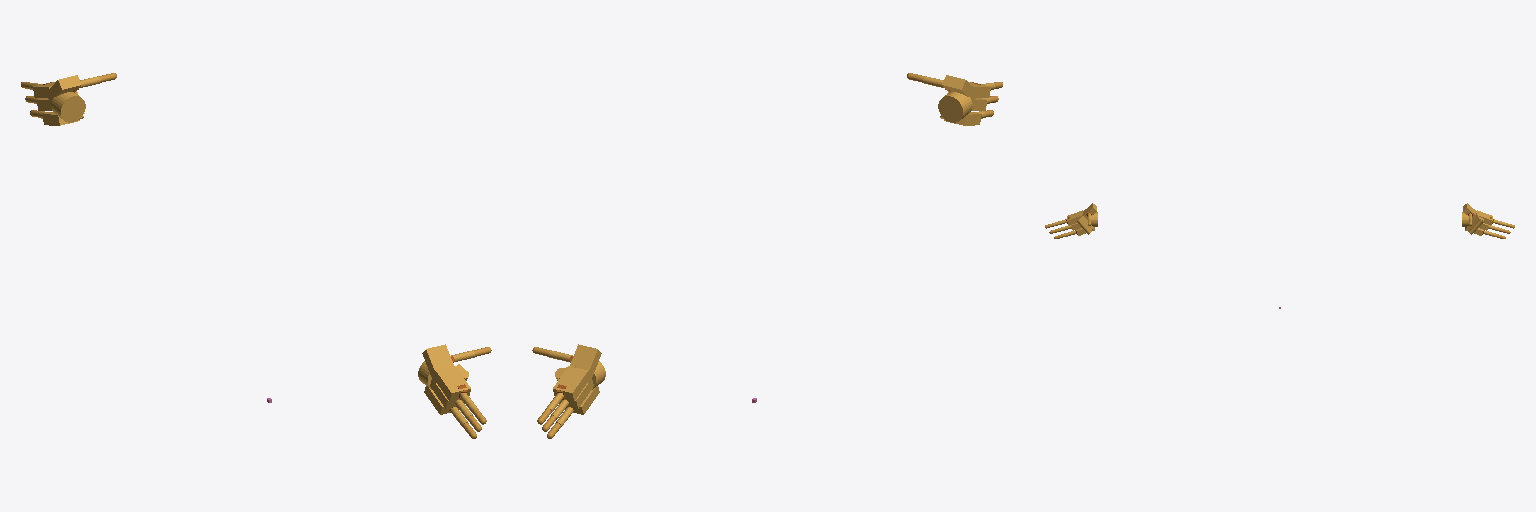
--- Render facts (derived) ---
3 views of the same robot in one strip: view 1: azimuth 30°, elevation 25°; view 2: azimuth 150°, elevation 25°; view 3: azimuth 270°, elevation 25° (orthographic).
Model atlas with 98 links and 97 joints (52 revolute, 1 continuous, 44 fixed), rooted at pelvis, posed every joint at zero.
Links seen in each view (by area): view 1: right_palm, left_palm; view 2: left_palm, right_palm; view 3: right_palm, left_palm.
Boxes of the visible links, box(x1,y1,x2,y2) form: right_palm: box(418, 344, 470, 414); left_palm: box(33, 75, 85, 125); left_palm: box(553, 344, 605, 414); right_palm: box(938, 75, 990, 125); right_palm: box(1067, 203, 1097, 235); left_palm: box(1462, 203, 1492, 235).
Size in the robot's own frame: 0.196 by 2.44 by 0.5667 metres.
Meshes: 30 distinct files referenced, 0 mesh visuals loaded (none loaded); not drawn: 30 (reference not matched to a file when rendering).

robot.urdf — atlas:
<?xml version="1.0" ?>
<!-- =================================================================================== -->
<!-- |    This document was autogenerated by xacro from /tmp/buildd/drcsim-2.1.0/ros/atlas_description/robots/atlas_sandia_hands.urdf.xacro | -->
<!-- |    EDITING THIS FILE BY HAND IS NOT RECOMMENDED                                 | -->
<!-- =================================================================================== -->
<robot name="atlas" xmlns:xacro="http://www.ros.org/wiki/xacro">
  <link name="l_clav">
    <inertial>
      <mass value="2.369"/>
      <origin rpy="0 -0 0" xyz="0.014 0.058 0.029"/>
      <inertia ixx="0.004" ixy="0.001" ixz="0" iyy="0.006" iyz="0" izz="0.007"/>
    </inertial>
    <visual>
      <origin rpy="0 -0 0" xyz="0 0 0"/>
      <geometry>
        <mesh filename="package://atlas/meshes/l_clav.dae" scale="1 1 1"/>
      </geometry>
    </visual>
    <collision group="default">
      <origin rpy="0 1.5707963267949 0" xyz="0 0.0744 0.03657"/>
      <geometry>
        <cylinder length="0.1525" radius="0.045"/>
      </geometry>
    </collision>
    <collision group="other">
      <origin rpy="-0.5236 0 0" xyz="0 0.012 0.012"/>
      <geometry>
        <cylinder length="0.027" radius="0.04"/>
      </geometry>
    </collision>
  </link>
  <link name="l_farm">
    <inertial>
      <mass value="0.981"/>
      <origin rpy="0 -0 0" xyz="0 0.041 0"/>
      <inertia ixx="0.003" ixy="0" ixz="0" iyy="0.001" iyz="0" izz="0.003"/>
    </inertial>
    <visual>
      <origin rpy="0 -0 0" xyz="0 0 0"/>
      <geometry>
        <mesh filename="package://atlas/meshes/l_farm.dae" scale="1 1 1"/>
      </geometry>
    </visual>
    <collision group="default">
      <origin rpy="1.5707963267949 0 0" xyz="0 0.0174215 0"/>
      <geometry>
        <cylinder length="0.035181" radius="0.0458825"/>
      </geometry>
    </collision>
    <collision group="other">
      <origin rpy="0 1.5707963267949 0" xyz="0.000226 0.06028 0.0"/>
      <geometry>
        <cylinder length="0.050472" radius="0.0279"/>
      </geometry>
    </collision>
  </link>
  <link name="l_foot">
    <inertial>
      <mass value="1.634"/>
      <origin rpy="0 -0 0" xyz="0.027 0 -0.067"/>
      <inertia ixx="0.002" ixy="0" ixz="0" iyy="0.007" iyz="0" izz="0.008"/>
    </inertial>
    <visual>
      <origin rpy="0 -0 0" xyz="0 0 0"/>
      <geometry>
        <mesh filename="package://atlas/meshes/l_foot.dae" scale="1 1 1"/>
      </geometry>
    </visual>
    <!-- bottom -->
    <collision group="default">
      <origin rpy="0 0 0" xyz="0.048 0 -0.076119"/>
      <geometry>
        <box size="0.26 0.124887 0.01"/>
      </geometry>
    </collision>
    <!-- ankle FIXME: adding this collision body destabilizes robot, shouldn't
        <collision group="other">
          <origin xyz="0.0 0 -0.0528735" rpy="0 0 0"/>
          <geometry>
            <cylinder radius="0.0373" length="0.037827"/>
          </geometry>
        </collision>
        -->
  </link>
  <link name="l_hand">
    <inertial>
      <mass value="2.263"/>
      <origin rpy="0 -0 0" xyz="0 0.093 0"/>
      <inertia ixx="0.01" ixy="0" ixz="0" iyy="0.002" iyz="0" izz="0.01"/>
    </inertial>
    <visual>
      <origin rpy="0 -0 0" xyz="0 0 0"/>
      <geometry>
        <mesh filename="package://atlas/meshes/l_hand.dae" scale="1 1 1"/>
      </geometry>
    </visual>
    <collision group="default">
      <origin rpy="1.5707963267949 0 0" xyz="0 0.0526955 0.0"/>
      <geometry>
        <cylinder length="0.055117" radius="0.035939"/>
      </geometry>
    </collision>
    <collision group="other">
      <origin rpy="0 1.5707963267949 0" xyz="0.034375 0.002643 0"/>
      <geometry>
        <cylinder length="0.019" radius="0.035939"/>
      </geometry>
    </collision>
    <collision group="other">
      <origin rpy="0 1.5707963267949 0" xyz="-0.0365945 0.002643 0"/>
      <geometry>
        <cylinder length="0.019" radius="0.035939"/>
      </geometry>
    </collision>
  </link>
  <link name="l_larm">
    <inertial>
      <mass value="2.148"/>
      <origin rpy="0 -0 0" xyz="-0.003 0.099 -0.014"/>
      <inertia ixx="0.005" ixy="0" ixz="0" iyy="0.003" iyz="0" izz="0.006"/>
    </inertial>
    <visual>
      <origin rpy="0 -0 0" xyz="0 0 0"/>
      <geometry>
        <mesh filename="package://atlas/meshes/l_larm.dae" scale="1 1 1"/>
      </geometry>
    </visual>
    <collision group="default">
      <origin rpy="0 1.5707963267949 0" xyz="0.056065 0 0"/>
      <geometry>
        <cylinder length="0.0161" radius="0.045"/>
      </geometry>
    </collision>
    <collision group="other">
      <origin rpy="0 1.5707963267949 0" xyz="-0.0556155 0 0"/>
      <!-- double check -->
      <geometry>
        <cylinder length="0.0161" radius="0.045"/>
      </geometry>
    </collision>
    <collision group="other">
      <origin rpy="1.5707963267949 0 0" xyz="0 0.0940525 0.0"/>
      <geometry>
        <cylinder length="0.188105" radius="0.045"/>
      </geometry>
    </collision>
  </link>
  <link name="l_lglut">
    <inertial>
      <mass value="0.69"/>
      <origin rpy="0 -0 0" xyz="0.0133341 0.0170484 -0.0312052"/>
      <inertia ixx="0.000691326" ixy="-2.24344e-05" ixz="2.50508e-06" iyy="0.00126856" iyz="0.000137862" izz="0.00106487"/>
    </inertial>
    <visual>
      <origin rpy="0 -0 0" xyz="0 0 0"/>
      <geometry>
        <mesh filename="package://atlas/meshes/l_lglut.dae" scale="1 1 1"/>
      </geometry>
    </visual>
    <collision group="default">
      <origin rpy="1.5707963267949 0 0" xyz="0.049968 0.022488 -0.0501165"/>
      <geometry>
        <cylinder length="0.060306" radius="0.02009687"/>
      </geometry>
    </collision>
    <collision group="other">
      <origin rpy="0 1.5707963267949 0" xyz="0 0 0"/>
      <geometry>
        <cylinder length="0.12" radius="0.02"/>
      </geometry>
    </collision>
  </link>
  <link name="l_lleg">
    <inertial>
      <mass value="4.367"/>
      <origin rpy="0 -0 0" xyz="0.001 0 -0.187"/>
      <inertia ixx="0.077" ixy="0" ixz="-0.003" iyy="0.076" iyz="0" izz="0.01"/>
    </inertial>
    <visual>
      <origin rpy="0 -0 0" xyz="0 0 0"/>
      <geometry>
        <mesh filename="package://atlas/meshes/l_lleg.dae" scale="1 1 1"/>
      </geometry>
    </visual>
    <collision group="default">
      <origin rpy="0 0 0" xyz="-0.00345 0.00295 -0.1913"/>
      <geometry>
        <box size="0.1465 0.1205 0.476"/>
      </geometry>
    </collision>
  </link>
  <link name="l_scap">
    <inertial>
      <mass value="2.707"/>
      <origin rpy="0 -0 0" xyz="-0.002 0.108 0"/>
      <inertia ixx="0.01" ixy="0" ixz="0" iyy="0.005" iyz="0" izz="0.013"/>
    </inertial>
    <visual>
      <origin rpy="0 -0 0" xyz="0 0 0"/>
      <geometry>
        <mesh filename="package://atlas/meshes/l_scap.dae" scale="1 1 1"/>
      </geometry>
    </visual>
    <collision group="default">
      <origin rpy="1.5707963267949 0 0" xyz="0 0.118521 0"/>
      <geometry>
        <cylinder length="0.137492" radius="0.0418405"/>
      </geometry>
    </collision>
    <collision group="other">
      <origin rpy="0 1.5707963267949 0" xyz="-0.0884125 0 0"/>
      <geometry>
        <cylinder length="0.013937" radius="0.048709"/>
      </geometry>
    </collision>
    <collision group="other">
      <origin rpy="0 1.5707963267949 0" xyz="0.0847565 0 0"/>
      <geometry>
        <cylinder length="0.013737" radius="0.048709"/>
      </geometry>
    </collision>
  </link>
  <link name="l_talus">
    <inertial>
      <mass value="0.1"/>
      <origin rpy="0 -0 0" xyz="0 0 0"/>
      <inertia ixx="1.01674e-05" ixy="0" ixz="0" iyy="8.42775e-06" iyz="0" izz="1.30101e-05"/>
    </inertial>
    <visual>
      <origin rpy="0 -0 0" xyz="0 0 0"/>
      <geometry>
        <mesh filename="package://atlas/meshes/l_talus.dae" scale="1 1 1"/>
      </geometry>
    </visual>
    <collision group="default">
      <origin rpy="0 1.5707963267949 0" xyz="0 0 0"/>
      <geometry>
        <cylinder length="0.029542" radius="0.010181"/>
      </geometry>
    </collision>
    <collision group="other">
      <origin rpy="1.5707963267949 0 0" xyz="0 0 0"/>
      <geometry>
        <cylinder length="0.010059" radius="0.010348"/>
      </geometry>
    </collision>
  </link>
  <link name="l_uarm">
    <inertial>
      <mass value="1.881"/>
      <origin rpy="0 -0 0" xyz="0.007 0.114 0.008"/>
      <inertia ixx="0.002" ixy="0" ixz="0" iyy="0.003" iyz="0" izz="0.003"/>
    </inertial>
    <visual>
      <origin rpy="0 -0 0" xyz="0 0 0"/>
      <geometry>
        <mesh filename="package://atlas/meshes/l_uarm.dae" scale="1 1 1"/>
      </geometry>
    </visual>
    <collision group="default">
      <origin rpy="1.5707963267949 0 0" xyz="0 0.0583385 0"/>
      <geometry>
        <cylinder length="0.116677" radius="0.0449"/>
      </geometry>
    </collision>
    <collision group="other">
      <origin rpy="0 1.5707963267949 0" xyz="0 0.1205235 0.00912975"/>
      <geometry>
        <cylinder length="0.088934" radius="0.04504847"/>
      </geometry>
    </collision>
  </link>
  <link name="l_uglut">
    <inertial>
      <mass value="0.5166"/>
      <origin rpy="0 -0 0" xyz="0.00529262 -0.00344732 0.00313046"/>
      <inertia ixx="0.00074276" ixy="-3.79607e-08" ixz="-2.79549e-05" iyy="0.000688179" iyz="-3.2735e-08" izz="0.00041242"/>
    </inertial>
    <visual>
      <origin rpy="0 -0 0" xyz="0 0 0"/>
      <geometry>
        <mesh filename="package://atlas/meshes/l_uglut.dae" scale="1 1 1"/>
      </geometry>
    </visual>
    <collision group="default">
      <origin rpy="0 1.5707963267949 0" xyz="0 0 0"/>
      <geometry>
        <cylinder length="0.078396" radius="0.019096"/>
      </geometry>
    </collision>
    <collision group="other">
      <origin rpy="0 0 0" xyz="0 0 0"/>
      <geometry>
        <cylinder length="0.080842" radius="0.019841"/>
      </geometry>
    </collision>
  </link>
  <link name="l_uleg">
    <inertial>
      <mass value="7.34"/>
      <origin rpy="0 -0 0" xyz="0 0 -0.21"/>
      <inertia ixx="0.09" ixy="0" ixz="0" iyy="0.09" iyz="0" izz="0.02"/>
    </inertial>
    <visual>
      <origin rpy="0 -0 0" xyz="0 0 0"/>
      <geometry>
        <mesh filename="package://atlas/meshes/l_uleg.dae" scale="1 1 1"/>
      </geometry>
    </visual>
    <collision group="default">
      <origin rpy="0 0 0" xyz="-0.0179 0.02085 -0.21"/>
      <geometry>
        <box size="0.2 0.1865 0.26"/>
      </geometry>
    </collision>
  </link>
  <link name="ltorso">
    <inertial>
      <mass value="1.92"/>
      <origin rpy="0 -0 0" xyz="-0.0112984 -3.15366e-06 0.0746835"/>
      <inertia ixx="0.0039092" ixy="-5.04491e-08" ixz="-0.000342157" iyy="0.00341694" iyz="4.87119e-07" izz="0.00174492"/>
    </inertial>
    <visual>
      <origin rpy="0 -0 0" xyz="0 0 0"/>
      <geometry>
        <mesh filename="package://atlas/meshes/ltorso.dae" scale="1 1 1"/>
      </geometry>
    </visual>
    <!-- this part is completely internal
        <collision group="default">
          <origin rpy="0 0 0" xyz="0 0 0.039762"/>
          <geometry>
            <cylinder radius="0.025918" length="0.076922"/>
          </geometry>
        </collision>
        <collision group="other">
          <origin rpy="1.5707963267949 0 0" xyz="0 0.0250065 0.09025"/>
          <geometry>
            <cylinder radius="0.014828" length="0.020367"/>
          </geometry>
        </collision>
        <collision group="other">
          <origin rpy="1.5707963267949 0 0" xyz="0 -0.0248895 0.09025"/>
          <geometry>
            <cylinder radius="0.014828" length="0.020169"/>
          </geometry>
        </collision>
        -->
  </link>
  <link name="mtorso">
    <inertial>
      <mass value="0.55"/>
      <origin rpy="0 -0 0" xyz="-0.00816266 -0.0131245 0.0305974"/>
      <inertia ixx="0.000454181" ixy="-6.10764e-05" ixz="3.94009e-05" iyy="0.000483282" iyz="5.27463e-05" izz="0.000444215"/>
    </inertial>
    <visual>
      <origin rpy="0 -0 0" xyz="0 0 0"/>
      <geometry>
        <mesh filename="package://atlas/meshes/mtorso.dae" scale="1 1 1"/>
      </geometry>
    </visual>
    <collision group="default">
      <origin rpy="1.5707963267949 0 0" xyz="0 0 0"/>
      <geometry>
        <cylinder length="0.03" radius="0.017"/>
      </geometry>
    </collision>
    <collision group="other">
      <origin rpy="0 1.5707963267949 0" xyz="0.0285 0 0.05"/>
      <geometry>
        <cylinder length="0.02" radius="0.015"/>
      </geometry>
    </collision>
    <collision group="other">
      <origin rpy="0 1.5707963267949 0" xyz="-0.0285 0 0.05"/>
      <geometry>
        <cylinder length="0.02" radius="0.015"/>
      </geometry>
    </collision>
  </link>
  <link name="pelvis">
    <inertial>
      <mass value="14.2529"/>
      <origin rpy="0 -0 0" xyz="0.0111 0 0.0271"/>
      <inertia ixx="0.1244" ixy="0.0008" ixz="-0.0007" iyy="0.0958" iyz="-0.0005" izz="0.1167"/>
    </inertial>
    <visual>
      <origin rpy="0 -0 0" xyz="0 0 0"/>
      <geometry>
        <mesh filename="package://atlas/meshes/pelvis.dae" scale="1 1 1"/>
      </geometry>
    </visual>
    <collision group="default">
      <origin rpy="0 0 0" xyz="0 0 0"/>
      <geometry>
        <sphere radius="0.129"/>
      </geometry>
    </collision>
    <collision group="other">
      <origin rpy="0 0 0" xyz="0 0.034 0.06"/>
      <geometry>
        <cylinder length="0.07" radius="0.130"/>
      </geometry>
    </collision>
    <collision group="other">
      <origin rpy="0 0 0" xyz="0 -0.034 0.06"/>
      <geometry>
        <cylinder length="0.07" radius="0.130"/>
      </geometry>
    </collision>
  </link>
  <link name="r_clav">
    <inertial>
      <mass value="2.369"/>
      <origin rpy="0 -0 0" xyz="0.014 -0.058 0.029"/>
      <inertia ixx="0.004" ixy="-0.001" ixz="0" iyy="0.006" iyz="0" izz="0.007"/>
    </inertial>
    <visual>
      <origin rpy="0 -0 0" xyz="0 0 0"/>
      <geometry>
        <mesh filename="package://atlas/meshes/r_clav.dae" scale="1 1 1"/>
      </geometry>
    </visual>
    <collision group="default">
      <origin rpy="0 1.5707963267949 0" xyz="0 -0.0744 0.03657"/>
      <geometry>
        <cylinder length="0.1525" radius="0.045"/>
      </geometry>
    </collision>
    <collision group="other">
      <origin rpy="0.5236 0 0" xyz="0 -0.012 0.012"/>
      <geometry>
        <cylinder length="0.027" radius="0.04"/>
      </geometry>
    </collision>
  </link>
  <link name="r_farm">
    <inertial>
      <mass value="0.981"/>
      <origin rpy="0 -0 0" xyz="0 -0.041 0"/>
      <inertia ixx="0.003" ixy="0" ixz="0" iyy="0.001" iyz="0" izz="0.003"/>
    </inertial>
    <visual>
      <origin rpy="0 -0 0" xyz="0 0 0"/>
      <geometry>
        <mesh filename="package://atlas/meshes/r_farm.dae" scale="1 1 1"/>
      </geometry>
    </visual>
    <collision group="default">
      <origin rpy="1.5707963267949 0 0" xyz="0 -0.0174215 0"/>
      <geometry>
        <cylinder length="0.035181" radius="0.0458825"/>
      </geometry>
    </collision>
    <collision group="other">
      <origin rpy="0 1.5707963267949 0" xyz="0.000226 -0.06028 0.0"/>
      <geometry>
        <cylinder length="0.050472" radius="0.0279"/>
      </geometry>
    </collision>
  </link>
  <link name="r_foot">
    <inertial>
      <mass value="1.634"/>
      <origin rpy="0 -0 0" xyz="0.027 0 -0.067"/>
      <inertia ixx="0.002" ixy="0" ixz="0" iyy="0.007" iyz="0" izz="0.008"/>
    </inertial>
    <visual>
      <origin rpy="0 -0 0" xyz="0 0 0"/>
      <geometry>
        <mesh filename="package://atlas/meshes/r_foot.dae" scale="1 1 1"/>
      </geometry>
    </visual>
    <!-- bottom -->
    <collision group="default">
      <origin rpy="0 0 0" xyz="0.048 0 -0.076119"/>
      <geometry>
        <box size="0.26 0.124887 0.01"/>
      </geometry>
    </collision>
    <!-- ankle FIXME: adding this collision body destabilizes robot, shouldn't
        <collision group="other">
          <origin xyz="0.0 0 -0.0528735" rpy="0 0 0"/>
          <geometry>
            <cylinder radius="0.0373" length="0.037827"/>
          </geometry>
        </collision>
        -->
  </link>
  <link name="r_hand">
    <inertial>
      <mass value="2.263"/>
      <origin rpy="0 -0 0" xyz="0 -0.093 0"/>
      <inertia ixx="0.01" ixy="0" ixz="0" iyy="0.002" iyz="0" izz="0.01"/>
    </inertial>
    <visual>
      <origin rpy="0 -0 0" xyz="0 0 0"/>
      <geometry>
        <mesh filename="package://atlas/meshes/r_hand.dae" scale="1 1 1"/>
      </geometry>
    </visual>
    <collision group="default">
      <origin rpy="1.5707963267949 0 0" xyz="0 -0.0526955 0.0"/>
      <geometry>
        <cylinder length="0.055117" radius="0.035939"/>
      </geometry>
    </collision>
    <collision group="other">
      <origin rpy="0 1.5707963267949 0" xyz="0.034375 -0.002643 0"/>
      <geometry>
        <cylinder length="0.019" radius="0.035939"/>
      </geometry>
    </collision>
    <collision group="other">
      <origin rpy="0 1.5707963267949 0" xyz="-0.0365945 -0.002643 0"/>
      <geometry>
        <cylinder length="0.019" radius="0.035939"/>
      </geometry>
    </collision>
  </link>
  <link name="r_larm">
    <inertial>
      <mass value="2.148"/>
      <origin rpy="0 -0 0" xyz="-0.003 -0.099 -0.014"/>
      <inertia ixx="0.005" ixy="0" ixz="0" iyy="0.003" iyz="0" izz="0.006"/>
    </inertial>
    <visual>
      <origin rpy="0 -0 0" xyz="0 0 0"/>
      <geometry>
        <mesh filename="package://atlas/meshes/r_larm.dae" scale="1 1 1"/>
      </geometry>
    </visual>
    <collision group="default">
      <origin rpy="0 1.5707963267949 0" xyz="0.056065 0 0"/>
      <geometry>
        <cylinder length="0.0161" radius="0.045"/>
      </geometry>
    </collision>
    <collision group="other">
      <origin rpy="0 1.5707963267949 0" xyz="-0.0556155 0 0"/>
      <!-- double check -->
      <geometry>
        <cylinder length="0.0161" radius="0.045"/>
      </geometry>
    </collision>
    <collision group="other">
      <origin rpy="1.5707963267949 0 0" xyz="0 -0.0940525 0.0"/>
      <geometry>
        <cylinder length="0.188105" radius="0.045"/>
      </geometry>
    </collision>
  </link>
  <link name="r_lglut">
    <inertial>
      <mass value="0.69"/>
      <origin rpy="0 -0 0" xyz="0.0133341 -0.0170484 -0.0312052"/>
      <inertia ixx="0.000691326" ixy="2.24344e-05" ixz="2.50508e-06" iyy="0.00126856" iyz="-0.000137862" izz="0.00106487"/>
    </inertial>
    <visual>
      <origin rpy="0 -0 0" xyz="0 0 0"/>
      <geometry>
        <mesh filename="package://atlas/meshes/r_lglut.dae" scale="1 1 1"/>
      </geometry>
    </visual>
    <collision group="default">
      <origin rpy="1.5707963267949 0 0" xyz="0.049968 -0.022488 -0.0501165"/>
      <geometry>
        <cylinder length="0.060306" radius="0.02009687"/>
      </geometry>
    </collision>
    <collision group="other">
      <origin rpy="0 1.5707963267949 0" xyz="0 0 0"/>
      <geometry>
        <cylinder length="0.12" radius="0.02"/>
      </geometry>
    </collision>
  </link>
  <link name="r_lleg">
    <inertial>
      <mass value="4.367"/>
      <origin rpy="0 -0 0" xyz="0.001 0 -0.187"/>
      <inertia ixx="0.077" ixy="-0" ixz="-0.003" iyy="0.076" iyz="-0" izz="0.01"/>
    </inertial>
    <visual>
      <origin rpy="0 -0 0" xyz="0 0 0"/>
      <geometry>
        <mesh filename="package://atlas/meshes/r_lleg.dae" scale="1 1 1"/>
      </geometry>
    </visual>
    <collision group="default">
      <origin rpy="0 0 0" xyz="-0.00345 -0.00295 -0.1913"/>
      <geometry>
        <box size="0.1465 0.1205 0.476"/>
      </geometry>
    </collision>
  </link>
  <link name="r_scap">
    <inertial>
      <mass value="2.707"/>
      <origin rpy="0 -0 0" xyz="-0.002 -0.108 0"/>
      <inertia ixx="0.01" ixy="0" ixz="0" iyy="0.005" iyz="0" izz="0.013"/>
    </inertial>
    <visual>
      <origin rpy="0 -0 0" xyz="0 0 0"/>
      <geometry>
        <mesh filename="package://atlas/meshes/r_scap.dae" scale="1 1 1"/>
      </geometry>
    </visual>
    <collision group="default">
      <origin rpy="1.5707963267949 0 0" xyz="0 -0.118521 0"/>
      <geometry>
        <cylinder length="0.137492" radius="0.0418405"/>
      </geometry>
    </collision>
    <collision group="other">
      <origin rpy="0 1.5707963267949 0" xyz="-0.0884125 0 0"/>
      <geometry>
        <cylinder length="0.013937" radius="0.048709"/>
      </geometry>
    </collision>
    <collision group="other">
      <origin rpy="0 1.5707963267949 0" xyz="0.0847565 0 0"/>
      <geometry>
        <cylinder length="0.013737" radius="0.048709"/>
      </geometry>
    </collision>
  </link>
  <link name="r_talus">
    <inertial>
      <mass value="0.1"/>
      <origin rpy="0 -0 0" xyz="0 0 0"/>
      <inertia ixx="1.01674e-05" ixy="0" ixz="0" iyy="8.42775e-06" iyz="0" izz="1.30101e-05"/>
    </inertial>
    <visual>
      <origin rpy="0 -0 0" xyz="0 0 0"/>
      <geometry>
        <mesh filename="package://atlas/meshes/r_talus.dae" scale="1 1 1"/>
      </geometry>
    </visual>
    <collision group="default">
      <origin rpy="0 1.5707963267949 0" xyz="0 0 0"/>
      <geometry>
        <cylinder length="0.029542" radius="0.010181"/>
      </geometry>
    </collision>
    <collision group="other">
      <origin rpy="1.5707963267949 0 0" xyz="0 0 0"/>
      <geometry>
        <cylinder length="0.010059" radius="0.010348"/>
      </geometry>
    </collision>
  </link>
  <link name="r_uarm">
    <inertial>
      <mass value="1.881"/>
      <origin rpy="0 -0 0" xyz="0.007 -0.114 0.008"/>
      <inertia ixx="0.002" ixy="0" ixz="0" iyy="0.003" iyz="0" izz="0.003"/>
    </inertial>
    <visual>
      <origin rpy="0 -0 0" xyz="0 0 0"/>
      <geometry>
        <mesh filename="package://atlas/meshes/r_uarm.dae" scale="1 1 1"/>
      </geometry>
    </visual>
    <collision group="default">
      <origin rpy="1.5707963267949 0 0" xyz="0 -0.0583385 0"/>
      <geometry>
        <cylinder length="0.116677" radius="0.0449"/>
      </geometry>
    </collision>
    <collision group="other">
      <origin rpy="0 1.5707963267949 0" xyz="0 -0.1205235 0.00912975"/>
      <geometry>
        <cylinder length="0.088934" radius="0.04504847"/>
      </geometry>
    </collision>
  </link>
  <link name="r_uglut">
    <inertial>
      <mass value="0.5166"/>
      <origin rpy="0 -0 0" xyz="0.00529262 0.00344732 0.00313046"/>
      <inertia ixx="0.00074276" ixy="3.79607e-08" ixz="-2.79549e-05" iyy="0.000688179" iyz="3.2735e-08" izz="0.00041242"/>
    </inertial>
    <visual>
      <origin rpy="0 -0 0" xyz="0 0 0"/>
      <geometry>
        <mesh filename="package://atlas/meshes/r_uglut.dae" scale="1 1 1"/>
      </geometry>
    </visual>
    <collision group="default">
      <origin rpy="0 1.5707963267949 0" xyz="0 0 0"/>
      <geometry>
        <cylinder length="0.078396" radius="0.019096"/>
      </geometry>
    </collision>
    <collision group="other">
      <origin rpy="0 0 0" xyz="0 0 0"/>
      <geometry>
        <cylinder length="0.080842" radius="0.019841"/>
      </geometry>
    </collision>
  </link>
  <link name="r_uleg">
    <inertial>
      <mass value="7.34"/>
      <origin rpy="0 -0 0" xyz="0 0 -0.21"/>
      <inertia ixx="0.09" ixy="0" ixz="0" iyy="0.09" iyz="0" izz="0.02"/>
    </inertial>
    <visual>
      <origin rpy="0 -0 0" xyz="0 0 0"/>
      <geometry>
        <mesh filename="package://atlas/meshes/r_uleg.dae" scale="1 1 1"/>
      </geometry>
    </visual>
    <collision group="default">
      <origin rpy="0 0 0" xyz="-0.0179 -0.02085 -0.21"/>
      <geometry>
        <box size="0.2 0.1865 0.26"/>
      </geometry>
    </collision>
  </link>
  <link name="utorso">
    <inertial>
      <mass value="18.484"/>
      <origin rpy="0 -0 0" xyz="0.02 -0.001 0.211"/>
      <inertia ixx="0.395" ixy="0" ixz="0.083" iyy="1.089" iyz="-0.003" izz="0.327"/>
    </inertial>
    <visual>
      <origin rpy="0 -0 0" xyz="0 0 0"/>
      <geometry>
        <mesh filename="package://atlas/meshes/utorso.dae" scale="1 1 1"/>
      </geometry>
    </visual>
    <collision group="default">
      <origin rpy="0 -0 0" xyz="0.0446 0 0.1869"/>
      <geometry>
        <box size="0.3188 0.24 0.3662"/>
      </geometry>
    </collision>
    <collision group="other">
      <origin rpy="-0.5236 0 0" xyz="0.024 0.16 0.18"/>
      <geometry>
        <cylinder length="0.22375" radius="0.0363"/>
      </geometry>
    </collision>
    <collision group="other">
      <origin rpy="0.5236 0 0" xyz="0.024 -0.16 0.18"/>
      <geometry>
        <cylinder length="0.22375" radius="0.0363"/>
      </geometry>
    </collision>
  </link>
  <joint name="back_lbz" type="revolute">
    <origin rpy="0 -0 0" xyz="-0.0125 0 0"/>
    <axis xyz="0 0 1"/>
    <parent link="pelvis"/>
    <child link="ltorso"/>
    <dynamics damping="0.1" friction="0"/>
    <limit effort="124.016" lower="-0.610865" upper="0.610865" velocity="12"/>
    <safety_controller k_position="100" k_velocity="100" soft_lower_limit="-10.6109" soft_upper_limit="10.6109"/>
  </joint>
  <joint name="back_mby" type="revolute">
    <origin rpy="0 -0 0" xyz="0 0 0.09"/>
    <axis xyz="0 1 0"/>
    <parent link="ltorso"/>
    <child link="mtorso"/>
    <dynamics damping="0.1" friction="0"/>
    <limit effort="206.843" lower="-1.2" upper="1.28" velocity="12"/>
    <safety_controller k_position="100" k_velocity="100" soft_lower_limit="-11.2" soft_upper_limit="11.28"/>
  </joint>
  <joint name="back_ubx" type="revolute">
    <origin rpy="0 -0 0" xyz="0 0 0.05"/>
    <axis xyz="1 0 0"/>
    <parent link="mtorso"/>
    <child link="utorso"/>
    <dynamics damping="0.1" friction="0"/>
    <limit effort="94.91" lower="-0.790809" upper="0.790809" velocity="12"/>
    <safety_controller k_position="100" k_velocity="100" soft_lower_limit="-10.7908" soft_upper_limit="10.7908"/>
  </joint>
  <joint name="l_arm_elx" type="revolute">
    <origin rpy="0 -0 0" xyz="0 0.121 0.013"/>
    <axis xyz="1 0 0"/>
    <parent link="l_uarm"/>
    <child link="l_larm"/>
    <dynamics damping="0.1" friction="0"/>
    <limit effort="114" lower="0" upper="2.35619" velocity="12"/>
    <safety_controller k_position="100" k_velocity="100" soft_lower_limit="-10" soft_upper_limit="12.3562"/>
  </joint>
  <joint name="l_arm_ely" type="revolute">
    <origin rpy="0 -0 0" xyz="0 0.185 0"/>
    <axis xyz="0 1 0"/>
    <parent link="l_scap"/>
    <child link="l_uarm"/>
    <dynamics damping="0.1" friction="0"/>
    <limit effort="114" lower="0" upper="3.14159" velocity="12"/>
    <safety_controller k_position="100" k_velocity="100" soft_lower_limit="-10" soft_upper_limit="13.1416"/>
  </joint>
  <joint name="l_arm_mwx" type="revolute">
    <origin rpy="0 -0 0" xyz="0 0.058 0"/>
    <axis xyz="1 0 0"/>
    <parent link="l_farm"/>
    <child link="l_hand"/>
    <dynamics damping="0.1" friction="0"/>
    <limit effort="60" lower="-0.436" upper="1.571" velocity="12"/>
    <safety_controller k_position="100" k_velocity="100" soft_lower_limit="-10.436" soft_upper_limit="11.571"/>
  </joint>
  <joint name="l_arm_shx" type="revolute">
    <origin rpy="0 -0 0" xyz="0 0.075 0.036"/>
    <axis xyz="1 0 0"/>
    <parent link="l_clav"/>
    <child link="l_scap"/>
    <dynamics damping="0.1" friction="0"/>
    <limit effort="170" lower="-1.39626" upper="1.74533" velocity="12"/>
    <safety_controller k_position="100" k_velocity="100" soft_lower_limit="-11.3963" soft_upper_limit="11.7453"/>
  </joint>
  <joint name="l_arm_usy" type="revolute">
    <origin rpy="0 -0 0" xyz="0.024 0.221 0.289"/>
    <axis xyz="0 0.5 0.866025"/>
    <parent link="utorso"/>
    <child link="l_clav"/>
    <dynamics damping="0.1" friction="0"/>
    <limit effort="212" lower="-1.9635" upper="1.9635" velocity="12"/>
    <safety_controller k_position="100" k_velocity="100" soft_lower_limit="-11.9635" soft_upper_limit="11.9635"/>
  </joint>
  <joint name="l_arm_uwy" type="revolute">
    <origin rpy="0 -0 0" xyz="0 0.188 -0.013"/>
    <axis xyz="0 1 0"/>
    <parent link="l_larm"/>
    <child link="l_farm"/>
    <dynamics damping="0.1" friction="0"/>
    <limit effort="114" lower="-1.571" upper="1.571" velocity="12"/>
    <safety_controller k_position="100" k_velocity="100" soft_lower_limit="-11.571" soft_upper_limit="11.571"/>
  </joint>
  <joint name="l_leg_kny" type="revolute">
    <origin rpy="0 -0 0" xyz="-0.05 0 -0.374"/>
    <axis xyz="0 1 0"/>
    <parent link="l_uleg"/>
    <child link="l_lleg"/>
    <dynamics damping="0.1" friction="0"/>
    <limit effort="220" lower="0" upper="2.45" velocity="12"/>
    <safety_controller k_position="100" k_velocity="100" soft_lower_limit="-10" soft_upper_limit="12.45"/>
  </joint>
  <joint name="l_leg_lax" type="revolute">
    <origin rpy="0 -0 0" xyz="0 0 0"/>
    <axis xyz="1 0 0"/>
    <parent link="l_talus"/>
    <child link="l_foot"/>
    <dynamics damping="0.1" friction="0"/>
    <limit effort="90" lower="-0.436" upper="0.436" velocity="12"/>
    <safety_controller k_position="100" k_velocity="100" soft_lower_limit="-10.436" soft_upper_limit="10.436"/>
  </joint>
  <joint name="l_leg_lhy" type="revolute">
    <origin rpy="0 -0 0" xyz="0.05 0 -0.05"/>
    <axis xyz="0 1 0"/>
    <parent link="l_lglut"/>
    <child link="l_uleg"/>
    <dynamics damping="0.1" friction="0"/>
    <limit effort="260" lower="-1.75" upper="0.524" velocity="12"/>
    <safety_controller k_position="100" k_velocity="100" soft_lower_limit="-11.75" soft_upper_limit="10.524"/>
  </joint>
  <joint name="l_leg_mhx" type="revolute">
    <origin rpy="0 -0 0" xyz="0 0 0"/>
    <axis xyz="1 0 0"/>
    <parent link="l_uglut"/>
    <child link="l_lglut"/>
    <dynamics damping="0.1" friction="0"/>
    <limit effort="180" lower="-0.47" upper="0.495" velocity="12"/>
    <safety_controller k_position="100" k_velocity="100" soft_lower_limit="-10.47" soft_upper_limit="10.495"/>
  </joint>
  <joint name="l_leg_uay" type="revolute">
    <origin rpy="0 -0 0" xyz="0 0 -0.422"/>
    <axis xyz="0 1 0"/>
    <parent link="l_lleg"/>
    <child link="l_talus"/>
    <dynamics damping="0.1" friction="0"/>
    <limit effort="220" lower="-0.698" upper="0.698" velocity="12"/>
    <safety_controller k_position="100" k_velocity="100" soft_lower_limit="-10.698" soft_upper_limit="10.698"/>
  </joint>
  <joint name="l_leg_uhz" type="revolute">
    <origin rpy="0 -0 0" xyz="0 0.089 0"/>
    <axis xyz="0 0 1"/>
    <parent link="pelvis"/>
    <child link="l_uglut"/>
    <dynamics damping="0.1" friction="0"/>
    <limit effort="110" lower="-0.32" upper="1.14" velocity="12"/>
    <safety_controller k_position="100" k_velocity="100" soft_lower_limit="-10.32" soft_upper_limit="11.14"/>
  </joint>
  <joint name="neck_ay" type="revolute">
    <!-- per slides on sensor head kinematics 2012-12-14 -->
    <origin rpy="0 -0 0" xyz="0.16555 0 0.50823"/>
    <axis xyz="0 1 0"/>
    <parent link="utorso"/>
    <child link="head"/>
    <dynamics damping="0.1" friction="0"/>
    <!-- per slides on sensor head kinematics 2012-12-14 -->
    <limit effort="5" lower="-0.610865238" upper="1.13446401" velocity="12"/>
    <safety_controller k_position="100" k_velocity="100" soft_lower_limit="-10.610865238" soft_upper_limit="11.13446401"/>
  </joint>
  <joint name="r_arm_elx" type="revolute">
    <origin rpy="0 -0 0" xyz="0 -0.121 0.013"/>
    <axis xyz="1 0 0"/>
    <parent link="r_uarm"/>
    <child link="r_larm"/>
    <dynamics damping="0.1" friction="0"/>
    <limit effort="114" lower="-2.35619" upper="0" velocity="12"/>
    <safety_controller k_position="100" k_velocity="100" soft_lower_limit="-12.3562" soft_upper_limit="10"/>
  </joint>
  <joint name="r_arm_ely" type="revolute">
    <origin rpy="0 -0 0" xyz="0 -0.185 0"/>
    <axis xyz="0 1 0"/>
    <parent link="r_scap"/>
    <child link="r_uarm"/>
    <dynamics damping="0.1" friction="0"/>
    <limit effort="114" lower="0" upper="3.14159" velocity="12"/>
    <safety_controller k_position="100" k_velocity="100" soft_lower_limit="-10" soft_upper_limit="13.1416"/>
  </joint>
  <joint name="r_arm_mwx" type="revolute">
    <origin rpy="0 -0 0" xyz="0 -0.058 0"/>
    <axis xyz="1 0 0"/>
    <parent link="r_farm"/>
    <child link="r_hand"/>
    <dynamics damping="0.1" friction="0"/>
    <limit effort="60" lower="-1.571" upper="0.436" velocity="12"/>
    <safety_controller k_position="100" k_velocity="100" soft_lower_limit="-11.571" soft_upper_limit="10.436"/>
  </joint>
  <joint name="r_arm_shx" type="revolute">
    <origin rpy="0 -0 0" xyz="0 -0.075 0.036"/>
    <axis xyz="1 0 0"/>
    <parent link="r_clav"/>
    <child link="r_scap"/>
    <dynamics damping="0.1" friction="0"/>
    <limit effort="170" lower="-1.74533" upper="1.39626" velocity="12"/>
    <safety_controller k_position="100" k_velocity="100" soft_lower_limit="-11.7453" soft_upper_limit="11.3963"/>
  </joint>
  <joint name="r_arm_usy" type="revolute">
    <origin rpy="0 -0 0" xyz="0.024 -0.221 0.289"/>
    <axis xyz="0 0.5 -0.866025"/>
    <parent link="utorso"/>
    <child link="r_clav"/>
    <dynamics damping="0.1" friction="0"/>
    <limit effort="212" lower="-1.9635" upper="1.9635" velocity="12"/>
    <safety_controller k_position="100" k_velocity="100" soft_lower_limit="-11.9635" soft_upper_limit="11.9635"/>
  </joint>
  <joint name="r_arm_uwy" type="revolute">
    <origin rpy="0 -0 0" xyz="0 -0.188 -0.013"/>
    <axis xyz="0 1 0"/>
    <parent link="r_larm"/>
    <child link="r_farm"/>
    <dynamics damping="0.1" friction="0"/>
    <limit effort="114" lower="-1.571" upper="1.571" velocity="12"/>
    <safety_controller k_position="100" k_velocity="100" soft_lower_limit="-11.571" soft_upper_limit="11.571"/>
  </joint>
  <joint name="r_leg_kny" type="revolute">
    <origin rpy="0 -0 0" xyz="-0.05 0 -0.374"/>
    <axis xyz="0 1 0"/>
    <parent link="r_uleg"/>
    <child link="r_lleg"/>
    <dynamics damping="0.1" friction="0"/>
    <limit effort="220" lower="0" upper="2.45" velocity="12"/>
    <safety_controller k_position="100" k_velocity="100" soft_lower_limit="-10" soft_upper_limit="12.45"/>
  </joint>
  <joint name="r_leg_lax" type="revolute">
    <origin rpy="0 -0 0" xyz="0 0 0"/>
    <axis xyz="1 0 0"/>
    <parent link="r_talus"/>
    <child link="r_foot"/>
    <dynamics damping="0.1" friction="0"/>
    <limit effort="90" lower="-0.436" upper="0.436" velocity="12"/>
    <safety_controller k_position="100" k_velocity="100" soft_lower_limit="-10.436" soft_upper_limit="10.436"/>
  </joint>
  <joint name="r_leg_lhy" type="revolute">
    <origin rpy="0 -0 0" xyz="0.05 0 -0.05"/>
    <axis xyz="0 1 0"/>
    <parent link="r_lglut"/>
    <child link="r_uleg"/>
    <dynamics damping="0.1" friction="0"/>
    <limit effort="260" lower="-1.745" upper="0.524" velocity="12"/>
    <safety_controller k_position="100" k_velocity="100" soft_lower_limit="-11.745" soft_upper_limit="10.524"/>
  </joint>
  <joint name="r_leg_mhx" type="revolute">
    <origin rpy="0 -0 0" xyz="0 0 0"/>
    <axis xyz="1 0 0"/>
    <parent link="r_uglut"/>
    <child link="r_lglut"/>
    <dynamics damping="0.1" friction="0"/>
    <limit effort="180" lower="-0.495" upper="0.47" velocity="12"/>
    <safety_controller k_position="100" k_velocity="100" soft_lower_limit="-10.495" soft_upper_limit="10.47"/>
  </joint>
  <joint name="r_leg_uay" type="revolute">
    <origin rpy="0 -0 0" xyz="0 0 -0.422"/>
    <axis xyz="0 1 0"/>
    <parent link="r_lleg"/>
    <child link="r_talus"/>
    <dynamics damping="0.1" friction="0"/>
    <limit effort="220" lower="-0.698" upper="0.698" velocity="12"/>
    <safety_controller k_position="100" k_velocity="100" soft_lower_limit="-10.698" soft_upper_limit="10.698"/>
  </joint>
  <joint name="r_leg_uhz" type="revolute">
    <origin rpy="0 -0 0" xyz="0 -0.089 0"/>
    <axis xyz="0 0 1"/>
    <parent link="pelvis"/>
    <child link="r_uglut"/>
    <dynamics damping="0.1" friction="0"/>
    <limit effort="260" lower="-1.14" upper="0.32" velocity="12"/>
    <safety_controller k_position="100" k_velocity="100" soft_lower_limit="-11.14" soft_upper_limit="10.32"/>
  </joint>
  <link name="right_palm">
    <origin rpy="0 0 0" xyz="0 0 0"/>
    <inertial>
      <mass value="1.303"/>
      <origin xyz="0 0 0"/>
      <!-- solid sphere with 5cm radius -->
      <inertia ixx="0.001303" ixy="0" ixz="0" iyy="0.001303" iyz="0" izz="0.001303"/>
    </inertial>
    <!-- begin simple shape approximation of palm -->
    <collision group="default">
      <origin rpy="0 1.57079632679 -0.9" xyz="0.069 0.016 0.038"/>
      <geometry>
        <cylinder length="0.100" radius="0.013"/>
      </geometry>
    </collision>
    <collision group="other">
      <origin rpy="0.41 0 -0.9" xyz="0.064 0.008 0.021"/>
      <geometry>
        <box size="0.09 .035 .05"/>
      </geometry>
    </collision>
    <collision group="other">
      <origin rpy="0 1.57079632679 0" xyz="0.02 0 -0.005"/>
      <geometry>
        <cylinder length="0.05" radius="0.038"/>
      </geometry>
    </collision>
    <collision group="other">
      <origin rpy="0 0 0.37" xyz="0.11 -0.01 -0.005"/>
      <geometry>
        <box size="0.09 .03 .06"/>
      </geometry>
    </collision>
    <collision group="other">
      <origin rpy="0 0 0.37" xyz="0.09 0.02 -0.005"/>
      <geometry>
        <box size="0.09 .03 .06"/>
      </geometry>
    </collision>
    <collision group="other">
      <origin rpy="0 0 0.37" xyz="0.060 0.05 -0.005"/>
      <geometry>
        <box size="0.09 .03 .06"/>
      </geometry>
    </collision>
    <collision group="other">
      <origin rpy="0 0 0.79" xyz="0.044 -0.04 -0.005"/>
      <geometry>
        <box size="0.09 .03 .06"/>
      </geometry>
    </collision>
    <!--   end simple shape approximation of palm -->
    <!-- begin visual shape approximation of palm -->
    <visual>
      <origin rpy="0 1.57079632679 -0.9" xyz="0.069 0.016 0.038"/>
      <geometry>
        <cylinder length="0.100" radius="0.013"/>
      </geometry>
      <material name="right_sandia_hand_skin">
        <color rgba="0.835 0.655 0.345 1.0"/>
      </material>
    </visual>
    <visual>
      <origin rpy="0.41 0 -0.9" xyz="0.064 0.008 0.021"/>
      <geometry>
        <box size="0.09 .035 .05"/>
      </geometry>
      <material name="right_sandia_hand_skin">
        <color rgba="0.835 0.655 0.345 1.0"/>
      </material>
    </visual>
    <visual>
      <origin rpy="0 1.57079632679 0" xyz="0.02 0 -0.005"/>
      <geometry>
        <cylinder length="0.05" radius="0.038"/>
      </geometry>
      <material name="right_sandia_hand_skin">
        <color rgba="0.835 0.655 0.345 1.0"/>
      </material>
    </visual>
    <visual>
      <origin rpy="0 0 0.37" xyz="0.11 -0.01 -0.005"/>
      <geometry>
        <box size="0.09 .03 .06"/>
      </geometry>
      <material name="right_sandia_hand_skin">
        <color rgba="0.835 0.655 0.345 1.0"/>
      </material>
    </visual>
    <visual>
      <origin rpy="0 0 0.37" xyz="0.09 0.02 -0.005"/>
      <geometry>
        <box size="0.09 .03 .06"/>
      </geometry>
      <material name="right_sandia_hand_skin">
        <color rgba="0.835 0.655 0.345 1.0"/>
      </material>
    </visual>
    <visual>
      <origin rpy="0 0 0.37" xyz="0.060 0.05 -0.005"/>
      <geometry>
        <box size="0.09 .03 .06"/>
      </geometry>
      <material name="right_sandia_hand_skin">
        <color rgba="0.835 0.655 0.345 1.0"/>
      </material>
    </visual>
    <visual>
      <origin rpy="0 0 0.79" xyz="0.044 -0.04 -0.005"/>
      <geometry>
        <box size="0.09 .03 .06"/>
      </geometry>
      <material name="right_sandia_hand_skin">
        <color rgba="0.835 0.655 0.345 1.0"/>
      </material>
    </visual>
    <!--   end visual shape approximation of palm -->
    <!-- begin collision mesh of f2 ->
      <collision group="default">
        <origin xyz="0 0 0" rpy="0 0 0"/>
        <geometry>
          <mesh filename="package://sandia_hand_description/meshes/palm.stl"/>
        </geometry>
      </collision>
      <!-   end collision mesh of f2 -->
    <!-- begin visual mesh of f2    ->
      <visual>
        <origin xyz="0 0 0" rpy="0 0 0"/>
        <geometry>
          <mesh filename="package://sandia_hand_description/meshes/palm.stl"/>
        </geometry>
        <material name="${side}_sandia_hand_skin">
          <color rgba="0.835 0.655 0.345 1.0"/>
        </material>
      </visual>
      <!-   end visual mesh of f2 -->
  </link>
  <joint name="right_sandia_hand_joint" type="fixed">
    <parent link="r_hand"/>
    <child link="right_palm"/>
    <origin rpy="-1.57079 0 -1.57079" xyz="0 -0.1 0"/>
  </joint>
  <link name="right_f0_base">
    <origin rpy="0 0 0" xyz="0 0 0"/>
    <inertial>
      <!-- total mass is 2.303 kg, palm is about 1.303 kg, distribute the rest into _base -->
      <mass value="0.250"/>
      <!-- (2.303 - 1.303) / 4 -->
      <origin xyz="0 0 0"/>
      <!-- model as sphere with radius of 1cm -->
      <inertia ixx="0.001" ixy="0" ixz="0" iyy="0.001" iyz="0" izz="0.001"/>
    </inertial>
  </link>
  <link name="right_f0_fixed_accel">
    <origin rpy="0 0 0" xyz="0 0 0"/>
    <inertial>
      <mass value="0.01"/>
      <origin xyz="0 0 0"/>
      <inertia ixx="0.0001" ixy="0" ixz="0" iyy="0.0001" iyz="0" izz="0.0001"/>
    </inertial>
  </link>
  <link name="right_f0_0">
    <origin rpy="0 0 0" xyz="0 0 0"/>
    <inertial>
      <mass value="0.106"/>
      <!-- F1 -->
      <origin xyz="0 0 0"/>
      <!-- solid cylinder -->
      <inertia ixx="0.011505" ixy="0" ixz="0" iyy="0.011505" iyz="0" izz="0.0011925"/>
    </inertial>
    <!-- begin simple shape approximation of f0 -->
    <collision group="default">
      <origin rpy="0 0 0" xyz="0 0 0.003"/>
      <geometry>
        <cylinder length="0.023" radius="0.015"/>
      </geometry>
    </collision>
    <collision group="other">
      <origin rpy="1.57079632679 0 0" xyz="0.011 0 0.003"/>
      <geometry>
        <cylinder length="0.023" radius="0.01"/>
      </geometry>
    </collision>
    <!--   end simple shape approximation of f0 -->
    <!-- begin visual shape approximation of f0 -->
    <visual>
      <origin rpy="0 0 0" xyz="0 0 0.003"/>
      <geometry>
        <cylinder length="0.023" radius="0.015"/>
      </geometry>
      <material name="right_sandia_hand_skin_suntan">
        <color rgba="0.7 0.4 0.2 1.0"/>
      </material>
    </visual>
    <visual>
      <origin rpy="1.57079632679 0 0" xyz="0.011 0 0.003"/>
      <geometry>
        <cylinder length="0.023" radius="0.01"/>
      </geometry>
      <material name="right_sandia_hand_skin_suntan">
        <color rgba="0.7 0.4 0.2 1.0"/>
      </material>
    </visual>
    <!--   end visual shape approximation of f0 -->
    <!-- begin collision mesh of f0 ->
      <collision group="default">
        <origin xyz="0 0 0" rpy="0 0 0"/>
        <geometry>
          <mesh filename="package://sandia_hand_description/meshes/f0.stl"/>
        </geometry>
      </collision>
      <!-   end collision mesh of f0 -->
    <!-- begin visual mesh of f0 ->
      <visual>
        <origin xyz="0 0 0" rpy="0 0 0"/>
        <geometry>
          <mesh filename="package://sandia_hand_description/meshes/f0.stl"/>
        </geometry>
        <material name="${side}_sandia_hand_skin_suntan">
          <color rgba="0.7 0.4 0.2 1.0"/>
        </material>
      </visual>
      <!-   end visual mesh of f0 -->
  </link>
  <link name="right_f0_1">
    <origin rpy="0 0 0" xyz="0 0 0"/>
    <inertial>
      <mass value="0.033"/>
      <!-- F2 -->
      <origin xyz="0 0 0"/>
      <!-- solid cylinder -->
      <inertia ixx="0.000165" ixy="0" ixz="0" iyy="0.001316975" iyz="0" izz="0.001316975"/>
    </inertial>
    <!-- begin simple shape approximation of f1 -->
    <collision group="default">
      <origin rpy="0 1.57079632679 0" xyz="0.024 0 0"/>
      <geometry>
        <cylinder length="0.067" radius="0.01"/>
      </geometry>
    </collision>
    <!--   end simple shape approximation of f1 -->
    <!-- begin visual shape approximation of f1 -->
    <visual>
      <origin rpy="0 1.57079632679 0" xyz="0.024 0 0"/>
      <geometry>
        <cylinder length="0.067" radius="0.01"/>
      </geometry>
      <material name="right_sandia_hand_skin">
        <color rgba="0.835 0.655 0.345 1.0"/>
      </material>
    </visual>
    <!--   end visual shape approximation of f1 -->
    <!-- begin collision mesh of f1 ->
      <collision group="default">
        <origin xyz="0 0 0" rpy="0 0 0"/>
        <geometry>
          <mesh filename="package://sandia_hand_description/meshes/f1.stl"/>
        </geometry>
      </collision>
      <!-   end collision mesh of f1 -->
    <!-- begin visual mesh of f1 ->
      <visual>
        <origin xyz="0 0 0" rpy="0 0 0"/>
        <geometry>
          <mesh filename="package://sandia_hand_description/meshes/f1.stl"/>
        </geometry>
        <material name="${side}_sandia_hand_skin">
          <color rgba="0.835 0.655 0.345 1.0"/>
        </material>
      </visual>
      <!-   end visual mesh of f1 -->
  </link>
  <link name="right_f0_1_accel">
    <origin rpy="0 0 0" xyz="0 0 0"/>
    <inertial>
      <mass value="0.01"/>
      <origin xyz="0 0 0"/>
      <inertia ixx="0.0001" ixy="0" ixz="0" iyy="0.0001" iyz="0" izz="0.0001"/>
    </inertial>
  </link>
  <link name="right_f0_2">
    <origin rpy="0 0 0" xyz="0 0 0"/>
    <inertial>
      <mass value="0.033"/>
      <!-- F3 -->
      <origin xyz="0 0 0"/>
      <!-- solid cylinder -->
      <inertia ixx="0.00013365" ixy="0" ixz="0" iyy="0.0009603" iyz="0" izz="0.0009603"/>
    </inertial>
    <!-- begin simple shape approximation of f2 -->
    <collision group="default">
      <origin rpy="0 1.57079632679 0" xyz="0.024 0 0"/>
      <geometry>
        <cylinder length="0.057" radius="0.009"/>
      </geometry>
    </collision>
    <collision group="other">
      <origin rpy="0 0 0" xyz="0.052 0 0"/>
      <geometry>
        <sphere radius="0.009"/>
      </geometry>
    </collision>
    <!--   end simple shape approximation of f2 -->
    <!-- begin visual shape approximation of f2 -->
    <visual>
      <origin rpy="0 1.57079632679 0" xyz="0.024 0 0"/>
      <geometry>
        <cylinder length="0.057" radius="0.009"/>
      </geometry>
      <material name="right_sandia_hand_skin_suntan">
        <color rgba="0.8 0.6 0.3 1.0"/>
      </material>
    </visual>
    <visual>
      <origin rpy="0 0 0" xyz="0.052 0 0"/>
      <geometry>
        <sphere radius="0.009"/>
      </geometry>
      <material name="right_sandia_hand_skin_suntan">
        <color rgba="0.8 0.6 0.3 1.0"/>
      </material>
    </visual>
    <!-- begin collision mesh of f2    ->
      <collision group="default">
        <origin xyz="0 0 0" rpy="0 0 0"/>
        <geometry>
          <mesh filename="package://sandia_hand_description/meshes/f2.stl"/>
        </geometry>
      </collision>
      <!-   end collision mesh of f2 -->
    <!-- begin visual mesh of f2    ->
      <visual>
        <origin xyz="0 0 0" rpy="0 0 0"/>
        <geometry>
          <mesh filename="package://sandia_hand_description/meshes/f2.stl"/>
        </geometry>
        <material name="${side}_sandia_hand_skin_suntan">
          <color rgba="0.8 0.6 0.3 1.0"/>
        </material>
      </visual>
      <!-   end visual mesh of f2 -->
  </link>
  <link name="right_f0_2_accel">
    <origin rpy="0 0 0" xyz="0 0 0"/>
    <inertial>
      <mass value="0.01"/>
      <origin xyz="0 0 0"/>
      <inertia ixx="0.0001" ixy="0" ixz="0" iyy="0.0001" iyz="0" izz="0.0001"/>
    </inertial>
  </link>
  <joint name="right_f0_base" type="fixed">
    <parent link="right_palm"/>
    <child link="right_f0_base"/>
    <origin rpy="0 0 0.3" xyz="0.14 0.0 0"/>
  </joint>
  <joint name="right_f0_j0" type="revolute">
    <axis xyz="0 0 1"/>
    <parent link="right_f0_base"/>
    <child link="right_f0_0"/>
    <limit effort="1" lower="-1.57079632679" upper="1.57079632679" velocity="1"/>
    <safety_controller k_position="1000.0" k_velocity="1000.0" soft_lower_limit="-11.57079" soft_upper_limit="11.57079"/>
    <dynamics damping="0.01"/>
    <origin rpy="0 0 0" xyz="0 0 0"/>
  </joint>
  <joint name="right_f0_j1" type="revolute">
    <axis xyz="0 0 1"/>
    <parent link="right_f0_0"/>
    <child link="right_f0_1"/>
    <limit effort="1" lower="-1.57079632679" upper="1.57079632679" velocity="1"/>
    <safety_controller k_position="1000.0" k_velocity="1000.0" soft_lower_limit="-11.57079" soft_upper_limit="11.57079"/>
    <dynamics damping="0.01"/>
    <origin rpy="1.57079632679 0 0" xyz="0.028 0 0"/>
  </joint>
  <joint name="right_f0_j2" type="revolute">
    <axis xyz="0 0 1"/>
    <parent link="right_f0_1"/>
    <child link="right_f0_2"/>
    <origin rpy="0 0 0" xyz="0.05 0 0"/>
    <safety_controller k_position="1000.0" k_velocity="1000.0" soft_lower_limit="-11.57079" soft_upper_limit="11.57079"/>
    <dynamics damping="0.01"/>
    <limit effort="1" lower="-1.57079632679" upper="1.57079632679" velocity="1"/>
  </joint>
  <joint name="right_f0_fixed_accel" type="fixed">
    <parent link="right_f0_base"/>
    <child link="right_f0_fixed_accel"/>
    <origin rpy="0 0 0" xyz="-0.05 0 0"/>
  </joint>
  <joint name="right_f0_1_accel" type="fixed">
    <parent link="right_f0_1"/>
    <child link="right_f0_1_accel"/>
    <origin rpy="-1.57079632679 0 0" xyz="0.03 0 0"/>
  </joint>
  <joint name="right_f0_2_accel" type="fixed">
    <parent link="right_f0_2"/>
    <child link="right_f0_2_accel"/>
    <origin rpy="-1.57079632679 0 0" xyz="0.04 0 0"/>
  </joint>
  <gazebo reference="right_f0_base">
    <mu1>0.9</mu1>
    <mu2>0.9</mu2>
  </gazebo>
  <gazebo reference="right_f0_0">
    <mu1>0.9</mu1>
    <mu2>0.9</mu2>
  </gazebo>
  <gazebo reference="right_f0_1">
    <mu1>0.9</mu1>
    <mu2>0.9</mu2>
  </gazebo>
  <gazebo reference="right_f0_2">
    <mu1>0.9</mu1>
    <mu2>0.9</mu2>
  </gazebo>
  <transmission name="right_f0_j0" type="pr2_mechanism_model/SimpleTransmission">
    <joint name="right_f0_j0"/>
    <actuator name="right_f0_j0_motor"/>
    <mechanicalReduction>1</mechanicalReduction>
  </transmission>
  <transmission name="right_f0_j1" type="pr2_mechanism_model/SimpleTransmission">
    <joint name="right_f0_j1"/>
    <actuator name="right_f0_j1_motor"/>
    <mechanicalReduction>1</mechanicalReduction>
  </transmission>
  <transmission name="right_f0_j2" type="pr2_mechanism_model/SimpleTransmission">
    <joint name="right_f0_j2"/>
    <actuator name="right_f0_j2_motor"/>
    <mechanicalReduction>1</mechanicalReduction>
  </transmission>
  <link name="right_f1_base">
    <origin rpy="0 0 0" xyz="0 0 0"/>
    <inertial>
      <!-- total mass is 2.303 kg, palm is about 1.303 kg, distribute the rest into _base -->
      <mass value="0.250"/>
      <!-- (2.303 - 1.303) / 4 -->
      <origin xyz="0 0 0"/>
      <!-- model as sphere with radius of 1cm -->
      <inertia ixx="0.001" ixy="0" ixz="0" iyy="0.001" iyz="0" izz="0.001"/>
    </inertial>
  </link>
  <link name="right_f1_fixed_accel">
    <origin rpy="0 0 0" xyz="0 0 0"/>
    <inertial>
      <mass value="0.01"/>
      <origin xyz="0 0 0"/>
      <inertia ixx="0.0001" ixy="0" ixz="0" iyy="0.0001" iyz="0" izz="0.0001"/>
    </inertial>
  </link>
  <link name="right_f1_0">
    <origin rpy="0 0 0" xyz="0 0 0"/>
    <inertial>
      <mass value="0.106"/>
      <!-- F1 -->
      <origin xyz="0 0 0"/>
      <!-- solid cylinder -->
      <inertia ixx="0.011505" ixy="0" ixz="0" iyy="0.011505" iyz="0" izz="0.0011925"/>
    </inertial>
    <!-- begin simple shape approximation of f0 -->
    <collision group="default">
      <origin rpy="0 0 0" xyz="0 0 0.003"/>
      <geometry>
        <cylinder length="0.023" radius="0.015"/>
      </geometry>
    </collision>
    <collision group="other">
      <origin rpy="1.57079632679 0 0" xyz="0.011 0 0.003"/>
      <geometry>
        <cylinder length="0.023" radius="0.01"/>
      </geometry>
    </collision>
    <!--   end simple shape approximation of f0 -->
    <!-- begin visual shape approximation of f0 -->
    <visual>
      <origin rpy="0 0 0" xyz="0 0 0.003"/>
      <geometry>
        <cylinder length="0.023" radius="0.015"/>
      </geometry>
      <material name="right_sandia_hand_skin_suntan">
        <color rgba="0.7 0.4 0.2 1.0"/>
      </material>
    </visual>
    <visual>
      <origin rpy="1.57079632679 0 0" xyz="0.011 0 0.003"/>
      <geometry>
        <cylinder length="0.023" radius="0.01"/>
      </geometry>
      <material name="right_sandia_hand_skin_suntan">
        <color rgba="0.7 0.4 0.2 1.0"/>
      </material>
    </visual>
    <!--   end visual shape approximation of f0 -->
    <!-- begin collision mesh of f0 ->
      <collision group="default">
        <origin xyz="0 0 0" rpy="0 0 0"/>
        <geometry>
          <mesh filename="package://sandia_hand_description/meshes/f0.stl"/>
        </geometry>
      </collision>
      <!-   end collision mesh of f0 -->
    <!-- begin visual mesh of f0 ->
      <visual>
        <origin xyz="0 0 0" rpy="0 0 0"/>
        <geometry>
          <mesh filename="package://sandia_hand_description/meshes/f0.stl"/>
        </geometry>
        <material name="${side}_sandia_hand_skin_suntan">
          <color rgba="0.7 0.4 0.2 1.0"/>
        </material>
      </visual>
      <!-   end visual mesh of f0 -->
  </link>
  <link name="right_f1_1">
    <origin rpy="0 0 0" xyz="0 0 0"/>
    <inertial>
      <mass value="0.033"/>
      <!-- F2 -->
      <origin xyz="0 0 0"/>
      <!-- solid cylinder -->
      <inertia ixx="0.000165" ixy="0" ixz="0" iyy="0.001316975" iyz="0" izz="0.001316975"/>
    </inertial>
    <!-- begin simple shape approximation of f1 -->
    <collision group="default">
      <origin rpy="0 1.57079632679 0" xyz="0.024 0 0"/>
      <geometry>
        <cylinder length="0.067" radius="0.01"/>
      </geometry>
    </collision>
    <!--   end simple shape approximation of f1 -->
    <!-- begin visual shape approximation of f1 -->
    <visual>
      <origin rpy="0 1.57079632679 0" xyz="0.024 0 0"/>
      <geometry>
        <cylinder length="0.067" radius="0.01"/>
      </geometry>
      <material name="right_sandia_hand_skin">
        <color rgba="0.835 0.655 0.345 1.0"/>
      </material>
    </visual>
    <!--   end visual shape approximation of f1 -->
    <!-- begin collision mesh of f1 ->
      <collision group="default">
        <origin xyz="0 0 0" rpy="0 0 0"/>
        <geometry>
          <mesh filename="package://sandia_hand_description/meshes/f1.stl"/>
        </geometry>
      </collision>
      <!-   end collision mesh of f1 -->
    <!-- begin visual mesh of f1 ->
      <visual>
        <origin xyz="0 0 0" rpy="0 0 0"/>
        <geometry>
          <mesh filename="package://sandia_hand_description/meshes/f1.stl"/>
        </geometry>
        <material name="${side}_sandia_hand_skin">
          <color rgba="0.835 0.655 0.345 1.0"/>
        </material>
      </visual>
      <!-   end visual mesh of f1 -->
  </link>
  <link name="right_f1_1_accel">
    <origin rpy="0 0 0" xyz="0 0 0"/>
    <inertial>
      <mass value="0.01"/>
      <origin xyz="0 0 0"/>
      <inertia ixx="0.0001" ixy="0" ixz="0" iyy="0.0001" iyz="0" izz="0.0001"/>
    </inertial>
  </link>
  <link name="right_f1_2">
    <origin rpy="0 0 0" xyz="0 0 0"/>
    <inertial>
      <mass value="0.033"/>
      <!-- F3 -->
      <origin xyz="0 0 0"/>
      <!-- solid cylinder -->
      <inertia ixx="0.00013365" ixy="0" ixz="0" iyy="0.0009603" iyz="0" izz="0.0009603"/>
    </inertial>
    <!-- begin simple shape approximation of f2 -->
    <collision group="default">
      <origin rpy="0 1.57079632679 0" xyz="0.024 0 0"/>
      <geometry>
        <cylinder length="0.057" radius="0.009"/>
      </geometry>
    </collision>
    <collision group="other">
      <origin rpy="0 0 0" xyz="0.052 0 0"/>
      <geometry>
        <sphere radius="0.009"/>
      </geometry>
    </collision>
    <!--   end simple shape approximation of f2 -->
    <!-- begin visual shape approximation of f2 -->
    <visual>
      <origin rpy="0 1.57079632679 0" xyz="0.024 0 0"/>
      <geometry>
        <cylinder length="0.057" radius="0.009"/>
      </geometry>
      <material name="right_sandia_hand_skin_suntan">
        <color rgba="0.8 0.6 0.3 1.0"/>
      </material>
    </visual>
    <visual>
      <origin rpy="0 0 0" xyz="0.052 0 0"/>
      <geometry>
        <sphere radius="0.009"/>
      </geometry>
      <material name="right_sandia_hand_skin_suntan">
        <color rgba="0.8 0.6 0.3 1.0"/>
      </material>
    </visual>
    <!-- begin collision mesh of f2    ->
      <collision group="default">
        <origin xyz="0 0 0" rpy="0 0 0"/>
        <geometry>
          <mesh filename="package://sandia_hand_description/meshes/f2.stl"/>
        </geometry>
      </collision>
      <!-   end collision mesh of f2 -->
    <!-- begin visual mesh of f2    ->
      <visual>
        <origin xyz="0 0 0" rpy="0 0 0"/>
        <geometry>
          <mesh filename="package://sandia_hand_description/meshes/f2.stl"/>
        </geometry>
        <material name="${side}_sandia_hand_skin_suntan">
          <color rgba="0.8 0.6 0.3 1.0"/>
        </material>
      </visual>
      <!-   end visual mesh of f2 -->
  </link>
  <link name="right_f1_2_accel">
    <origin rpy="0 0 0" xyz="0 0 0"/>
    <inertial>
      <mass value="0.01"/>
      <origin xyz="0 0 0"/>
      <inertia ixx="0.0001" ixy="0" ixz="0" iyy="0.0001" iyz="0" izz="0.0001"/>
    </inertial>
  </link>
  <joint name="right_f1_base" type="fixed">
    <parent link="right_palm"/>
    <child link="right_f1_base"/>
    <origin rpy="0 0 0.3" xyz="0.115 0.03122 0"/>
  </joint>
  <joint name="right_f1_j0" type="revolute">
    <axis xyz="0 0 1"/>
    <parent link="right_f1_base"/>
    <child link="right_f1_0"/>
    <limit effort="1" lower="-1.57079632679" upper="1.57079632679" velocity="1"/>
    <safety_controller k_position="1000.0" k_velocity="1000.0" soft_lower_limit="-11.57079" soft_upper_limit="11.57079"/>
    <dynamics damping="0.01"/>
    <origin rpy="0 0 0" xyz="0 0 0"/>
  </joint>
  <joint name="right_f1_j1" type="revolute">
    <axis xyz="0 0 1"/>
    <parent link="right_f1_0"/>
    <child link="right_f1_1"/>
    <limit effort="1" lower="-1.57079632679" upper="1.57079632679" velocity="1"/>
    <safety_controller k_position="1000.0" k_velocity="1000.0" soft_lower_limit="-11.57079" soft_upper_limit="11.57079"/>
    <dynamics damping="0.01"/>
    <origin rpy="1.57079632679 0 0" xyz="0.028 0 0"/>
  </joint>
  <joint name="right_f1_j2" type="revolute">
    <axis xyz="0 0 1"/>
    <parent link="right_f1_1"/>
    <child link="right_f1_2"/>
    <origin rpy="0 0 0" xyz="0.05 0 0"/>
    <safety_controller k_position="1000.0" k_velocity="1000.0" soft_lower_limit="-11.57079" soft_upper_limit="11.57079"/>
    <dynamics damping="0.01"/>
    <limit effort="1" lower="-1.57079632679" upper="1.57079632679" velocity="1"/>
  </joint>
  <joint name="right_f1_fixed_accel" type="fixed">
    <parent link="right_f1_base"/>
    <child link="right_f1_fixed_accel"/>
    <origin rpy="0 0 0" xyz="-0.05 0 0"/>
  </joint>
  <joint name="right_f1_1_accel" type="fixed">
    <parent link="right_f1_1"/>
    <child link="right_f1_1_accel"/>
    <origin rpy="-1.57079632679 0 0" xyz="0.03 0 0"/>
  </joint>
  <joint name="right_f1_2_accel" type="fixed">
    <parent link="right_f1_2"/>
    <child link="right_f1_2_accel"/>
    <origin rpy="-1.57079632679 0 0" xyz="0.04 0 0"/>
  </joint>
  <gazebo reference="right_f1_base">
    <mu1>0.9</mu1>
    <mu2>0.9</mu2>
  </gazebo>
  <gazebo reference="right_f1_0">
    <mu1>0.9</mu1>
    <mu2>0.9</mu2>
  </gazebo>
  <gazebo reference="right_f1_1">
    <mu1>0.9</mu1>
    <mu2>0.9</mu2>
  </gazebo>
  <gazebo reference="right_f1_2">
    <mu1>0.9</mu1>
    <mu2>0.9</mu2>
  </gazebo>
  <transmission name="right_f1_j0" type="pr2_mechanism_model/SimpleTransmission">
    <joint name="right_f1_j0"/>
    <actuator name="right_f1_j0_motor"/>
    <mechanicalReduction>1</mechanicalReduction>
  </transmission>
  <transmission name="right_f1_j1" type="pr2_mechanism_model/SimpleTransmission">
    <joint name="right_f1_j1"/>
    <actuator name="right_f1_j1_motor"/>
    <mechanicalReduction>1</mechanicalReduction>
  </transmission>
  <transmission name="right_f1_j2" type="pr2_mechanism_model/SimpleTransmission">
    <joint name="right_f1_j2"/>
    <actuator name="right_f1_j2_motor"/>
    <mechanicalReduction>1</mechanicalReduction>
  </transmission>
  <link name="right_f2_base">
    <origin rpy="0 0 0" xyz="0 0 0"/>
    <inertial>
      <!-- total mass is 2.303 kg, palm is about 1.303 kg, distribute the rest into _base -->
      <mass value="0.250"/>
      <!-- (2.303 - 1.303) / 4 -->
      <origin xyz="0 0 0"/>
      <!-- model as sphere with radius of 1cm -->
      <inertia ixx="0.001" ixy="0" ixz="0" iyy="0.001" iyz="0" izz="0.001"/>
    </inertial>
  </link>
  <link name="right_f2_fixed_accel">
    <origin rpy="0 0 0" xyz="0 0 0"/>
    <inertial>
      <mass value="0.01"/>
      <origin xyz="0 0 0"/>
      <inertia ixx="0.0001" ixy="0" ixz="0" iyy="0.0001" iyz="0" izz="0.0001"/>
    </inertial>
  </link>
  <link name="right_f2_0">
    <origin rpy="0 0 0" xyz="0 0 0"/>
    <inertial>
      <mass value="0.106"/>
      <!-- F1 -->
      <origin xyz="0 0 0"/>
      <!-- solid cylinder -->
      <inertia ixx="0.011505" ixy="0" ixz="0" iyy="0.011505" iyz="0" izz="0.0011925"/>
    </inertial>
    <!-- begin simple shape approximation of f0 -->
    <collision group="default">
      <origin rpy="0 0 0" xyz="0 0 0.003"/>
      <geometry>
        <cylinder length="0.023" radius="0.015"/>
      </geometry>
    </collision>
    <collision group="other">
      <origin rpy="1.57079632679 0 0" xyz="0.011 0 0.003"/>
      <geometry>
        <cylinder length="0.023" radius="0.01"/>
      </geometry>
    </collision>
    <!--   end simple shape approximation of f0 -->
    <!-- begin visual shape approximation of f0 -->
    <visual>
      <origin rpy="0 0 0" xyz="0 0 0.003"/>
      <geometry>
        <cylinder length="0.023" radius="0.015"/>
      </geometry>
      <material name="right_sandia_hand_skin_suntan">
        <color rgba="0.7 0.4 0.2 1.0"/>
      </material>
    </visual>
    <visual>
      <origin rpy="1.57079632679 0 0" xyz="0.011 0 0.003"/>
      <geometry>
        <cylinder length="0.023" radius="0.01"/>
      </geometry>
      <material name="right_sandia_hand_skin_suntan">
        <color rgba="0.7 0.4 0.2 1.0"/>
      </material>
    </visual>
    <!--   end visual shape approximation of f0 -->
    <!-- begin collision mesh of f0 ->
      <collision group="default">
        <origin xyz="0 0 0" rpy="0 0 0"/>
        <geometry>
          <mesh filename="package://sandia_hand_description/meshes/f0.stl"/>
        </geometry>
      </collision>
      <!-   end collision mesh of f0 -->
    <!-- begin visual mesh of f0 ->
      <visual>
        <origin xyz="0 0 0" rpy="0 0 0"/>
        <geometry>
          <mesh filename="package://sandia_hand_description/meshes/f0.stl"/>
        </geometry>
        <material name="${side}_sandia_hand_skin_suntan">
          <color rgba="0.7 0.4 0.2 1.0"/>
        </material>
      </visual>
      <!-   end visual mesh of f0 -->
  </link>
  <link name="right_f2_1">
    <origin rpy="0 0 0" xyz="0 0 0"/>
    <inertial>
      <mass value="0.033"/>
      <!-- F2 -->
      <origin xyz="0 0 0"/>
      <!-- solid cylinder -->
      <inertia ixx="0.000165" ixy="0" ixz="0" iyy="0.001316975" iyz="0" izz="0.001316975"/>
    </inertial>
    <!-- begin simple shape approximation of f1 -->
    <collision group="default">
      <origin rpy="0 1.57079632679 0" xyz="0.024 0 0"/>
      <geometry>
        <cylinder length="0.067" radius="0.01"/>
      </geometry>
    </collision>
    <!--   end simple shape approximation of f1 -->
    <!-- begin visual shape approximation of f1 -->
    <visual>
      <origin rpy="0 1.57079632679 0" xyz="0.024 0 0"/>
      <geometry>
        <cylinder length="0.067" radius="0.01"/>
      </geometry>
      <material name="right_sandia_hand_skin">
        <color rgba="0.835 0.655 0.345 1.0"/>
      </material>
    </visual>
    <!--   end visual shape approximation of f1 -->
    <!-- begin collision mesh of f1 ->
      <collision group="default">
        <origin xyz="0 0 0" rpy="0 0 0"/>
        <geometry>
          <mesh filename="package://sandia_hand_description/meshes/f1.stl"/>
        </geometry>
      </collision>
      <!-   end collision mesh of f1 -->
    <!-- begin visual mesh of f1 ->
      <visual>
        <origin xyz="0 0 0" rpy="0 0 0"/>
        <geometry>
          <mesh filename="package://sandia_hand_description/meshes/f1.stl"/>
        </geometry>
        <material name="${side}_sandia_hand_skin">
          <color rgba="0.835 0.655 0.345 1.0"/>
        </material>
      </visual>
      <!-   end visual mesh of f1 -->
  </link>
  <link name="right_f2_1_accel">
    <origin rpy="0 0 0" xyz="0 0 0"/>
    <inertial>
      <mass value="0.01"/>
      <origin xyz="0 0 0"/>
      <inertia ixx="0.0001" ixy="0" ixz="0" iyy="0.0001" iyz="0" izz="0.0001"/>
    </inertial>
  </link>
  <link name="right_f2_2">
    <origin rpy="0 0 0" xyz="0 0 0"/>
    <inertial>
      <mass value="0.033"/>
      <!-- F3 -->
      <origin xyz="0 0 0"/>
      <!-- solid cylinder -->
      <inertia ixx="0.00013365" ixy="0" ixz="0" iyy="0.0009603" iyz="0" izz="0.0009603"/>
    </inertial>
    <!-- begin simple shape approximation of f2 -->
    <collision group="default">
      <origin rpy="0 1.57079632679 0" xyz="0.024 0 0"/>
      <geometry>
        <cylinder length="0.057" radius="0.009"/>
      </geometry>
    </collision>
    <collision group="other">
      <origin rpy="0 0 0" xyz="0.052 0 0"/>
      <geometry>
        <sphere radius="0.009"/>
      </geometry>
    </collision>
    <!--   end simple shape approximation of f2 -->
    <!-- begin visual shape approximation of f2 -->
    <visual>
      <origin rpy="0 1.57079632679 0" xyz="0.024 0 0"/>
      <geometry>
        <cylinder length="0.057" radius="0.009"/>
      </geometry>
      <material name="right_sandia_hand_skin_suntan">
        <color rgba="0.8 0.6 0.3 1.0"/>
      </material>
    </visual>
    <visual>
      <origin rpy="0 0 0" xyz="0.052 0 0"/>
      <geometry>
        <sphere radius="0.009"/>
      </geometry>
      <material name="right_sandia_hand_skin_suntan">
        <color rgba="0.8 0.6 0.3 1.0"/>
      </material>
    </visual>
    <!-- begin collision mesh of f2    ->
      <collision group="default">
        <origin xyz="0 0 0" rpy="0 0 0"/>
        <geometry>
          <mesh filename="package://sandia_hand_description/meshes/f2.stl"/>
        </geometry>
      </collision>
      <!-   end collision mesh of f2 -->
    <!-- begin visual mesh of f2    ->
      <visual>
        <origin xyz="0 0 0" rpy="0 0 0"/>
        <geometry>
          <mesh filename="package://sandia_hand_description/meshes/f2.stl"/>
        </geometry>
        <material name="${side}_sandia_hand_skin_suntan">
          <color rgba="0.8 0.6 0.3 1.0"/>
        </material>
      </visual>
      <!-   end visual mesh of f2 -->
  </link>
  <link name="right_f2_2_accel">
    <origin rpy="0 0 0" xyz="0 0 0"/>
    <inertial>
      <mass value="0.01"/>
      <origin xyz="0 0 0"/>
      <inertia ixx="0.0001" ixy="0" ixz="0" iyy="0.0001" iyz="0" izz="0.0001"/>
    </inertial>
  </link>
  <joint name="right_f2_base" type="fixed">
    <parent link="right_palm"/>
    <child link="right_f2_base"/>
    <origin rpy="0 0 0.3" xyz="0.09 0.06245 0"/>
  </joint>
  <joint name="right_f2_j0" type="revolute">
    <axis xyz="0 0 1"/>
    <parent link="right_f2_base"/>
    <child link="right_f2_0"/>
    <limit effort="1" lower="-1.57079632679" upper="1.57079632679" velocity="1"/>
    <safety_controller k_position="1000.0" k_velocity="1000.0" soft_lower_limit="-11.57079" soft_upper_limit="11.57079"/>
    <dynamics damping="0.01"/>
    <origin rpy="0 0 0" xyz="0 0 0"/>
  </joint>
  <joint name="right_f2_j1" type="revolute">
    <axis xyz="0 0 1"/>
    <parent link="right_f2_0"/>
    <child link="right_f2_1"/>
    <limit effort="1" lower="-1.57079632679" upper="1.57079632679" velocity="1"/>
    <safety_controller k_position="1000.0" k_velocity="1000.0" soft_lower_limit="-11.57079" soft_upper_limit="11.57079"/>
    <dynamics damping="0.01"/>
    <origin rpy="1.57079632679 0 0" xyz="0.028 0 0"/>
  </joint>
  <joint name="right_f2_j2" type="revolute">
    <axis xyz="0 0 1"/>
    <parent link="right_f2_1"/>
    <child link="right_f2_2"/>
    <origin rpy="0 0 0" xyz="0.05 0 0"/>
    <safety_controller k_position="1000.0" k_velocity="1000.0" soft_lower_limit="-11.57079" soft_upper_limit="11.57079"/>
    <dynamics damping="0.01"/>
    <limit effort="1" lower="-1.57079632679" upper="1.57079632679" velocity="1"/>
  </joint>
  <joint name="right_f2_fixed_accel" type="fixed">
    <parent link="right_f2_base"/>
    <child link="right_f2_fixed_accel"/>
    <origin rpy="0 0 0" xyz="-0.05 0 0"/>
  </joint>
  <joint name="right_f2_1_accel" type="fixed">
    <parent link="right_f2_1"/>
    <child link="right_f2_1_accel"/>
    <origin rpy="-1.57079632679 0 0" xyz="0.03 0 0"/>
  </joint>
  <joint name="right_f2_2_accel" type="fixed">
    <parent link="right_f2_2"/>
    <child link="right_f2_2_accel"/>
    <origin rpy="-1.57079632679 0 0" xyz="0.04 0 0"/>
  </joint>
  <gazebo reference="right_f2_base">
    <mu1>0.9</mu1>
    <mu2>0.9</mu2>
  </gazebo>
  <gazebo reference="right_f2_0">
    <mu1>0.9</mu1>
    <mu2>0.9</mu2>
  </gazebo>
  <gazebo reference="right_f2_1">
    <mu1>0.9</mu1>
    <mu2>0.9</mu2>
  </gazebo>
  <gazebo reference="right_f2_2">
    <mu1>0.9</mu1>
    <mu2>0.9</mu2>
  </gazebo>
  <transmission name="right_f2_j0" type="pr2_mechanism_model/SimpleTransmission">
    <joint name="right_f2_j0"/>
    <actuator name="right_f2_j0_motor"/>
    <mechanicalReduction>1</mechanicalReduction>
  </transmission>
  <transmission name="right_f2_j1" type="pr2_mechanism_model/SimpleTransmission">
    <joint name="right_f2_j1"/>
    <actuator name="right_f2_j1_motor"/>
    <mechanicalReduction>1</mechanicalReduction>
  </transmission>
  <transmission name="right_f2_j2" type="pr2_mechanism_model/SimpleTransmission">
    <joint name="right_f2_j2"/>
    <actuator name="right_f2_j2_motor"/>
    <mechanicalReduction>1</mechanicalReduction>
  </transmission>
  <link name="right_f3_base">
    <origin rpy="0 0 0" xyz="0 0 0"/>
    <inertial>
      <!-- total mass is 2.303 kg, palm is about 1.303 kg, distribute the rest into _base -->
      <mass value="0.250"/>
      <!-- (2.303 - 1.303) / 4 -->
      <origin xyz="0 0 0"/>
      <!-- model as sphere with radius of 1cm -->
      <inertia ixx="0.001" ixy="0" ixz="0" iyy="0.001" iyz="0" izz="0.001"/>
    </inertial>
  </link>
  <link name="right_f3_fixed_accel">
    <origin rpy="0 0 0" xyz="0 0 0"/>
    <inertial>
      <mass value="0.01"/>
      <origin xyz="0 0 0"/>
      <inertia ixx="0.0001" ixy="0" ixz="0" iyy="0.0001" iyz="0" izz="0.0001"/>
    </inertial>
  </link>
  <link name="right_f3_0">
    <origin rpy="0 0 0" xyz="0 0 0"/>
    <inertial>
      <mass value="0.106"/>
      <!-- F1 -->
      <origin xyz="0 0 0"/>
      <!-- solid cylinder -->
      <inertia ixx="0.011505" ixy="0" ixz="0" iyy="0.011505" iyz="0" izz="0.0011925"/>
    </inertial>
    <!-- begin simple shape approximation of f0 -->
    <collision group="default">
      <origin rpy="0 0 0" xyz="0 0 0.003"/>
      <geometry>
        <cylinder length="0.023" radius="0.015"/>
      </geometry>
    </collision>
    <collision group="other">
      <origin rpy="1.57079632679 0 0" xyz="0.011 0 0.003"/>
      <geometry>
        <cylinder length="0.023" radius="0.01"/>
      </geometry>
    </collision>
    <!--   end simple shape approximation of f0 -->
    <!-- begin visual shape approximation of f0 -->
    <visual>
      <origin rpy="0 0 0" xyz="0 0 0.003"/>
      <geometry>
        <cylinder length="0.023" radius="0.015"/>
      </geometry>
      <material name="right_sandia_hand_skin_suntan">
        <color rgba="0.7 0.4 0.2 1.0"/>
      </material>
    </visual>
    <visual>
      <origin rpy="1.57079632679 0 0" xyz="0.011 0 0.003"/>
      <geometry>
        <cylinder length="0.023" radius="0.01"/>
      </geometry>
      <material name="right_sandia_hand_skin_suntan">
        <color rgba="0.7 0.4 0.2 1.0"/>
      </material>
    </visual>
    <!--   end visual shape approximation of f0 -->
    <!-- begin collision mesh of f0 ->
      <collision group="default">
        <origin xyz="0 0 0" rpy="0 0 0"/>
        <geometry>
          <mesh filename="package://sandia_hand_description/meshes/f0.stl"/>
        </geometry>
      </collision>
      <!-   end collision mesh of f0 -->
    <!-- begin visual mesh of f0 ->
      <visual>
        <origin xyz="0 0 0" rpy="0 0 0"/>
        <geometry>
          <mesh filename="package://sandia_hand_description/meshes/f0.stl"/>
        </geometry>
        <material name="${side}_sandia_hand_skin_suntan">
          <color rgba="0.7 0.4 0.2 1.0"/>
        </material>
      </visual>
      <!-   end visual mesh of f0 -->
  </link>
  <link name="right_f3_1">
    <origin rpy="0 0 0" xyz="0 0 0"/>
    <inertial>
      <mass value="0.033"/>
      <!-- F2 -->
      <origin xyz="0 0 0"/>
      <!-- solid cylinder -->
      <inertia ixx="0.000165" ixy="0" ixz="0" iyy="0.001316975" iyz="0" izz="0.001316975"/>
    </inertial>
    <!-- begin simple shape approximation of f1 -->
    <collision group="default">
      <origin rpy="0 1.57079632679 0" xyz="0.024 0 0"/>
      <geometry>
        <cylinder length="0.067" radius="0.01"/>
      </geometry>
    </collision>
    <!--   end simple shape approximation of f1 -->
    <!-- begin visual shape approximation of f1 -->
    <visual>
      <origin rpy="0 1.57079632679 0" xyz="0.024 0 0"/>
      <geometry>
        <cylinder length="0.067" radius="0.01"/>
      </geometry>
      <material name="right_sandia_hand_skin">
        <color rgba="0.835 0.655 0.345 1.0"/>
      </material>
    </visual>
    <!--   end visual shape approximation of f1 -->
    <!-- begin collision mesh of f1 ->
      <collision group="default">
        <origin xyz="0 0 0" rpy="0 0 0"/>
        <geometry>
          <mesh filename="package://sandia_hand_description/meshes/f1.stl"/>
        </geometry>
      </collision>
      <!-   end collision mesh of f1 -->
    <!-- begin visual mesh of f1 ->
      <visual>
        <origin xyz="0 0 0" rpy="0 0 0"/>
        <geometry>
          <mesh filename="package://sandia_hand_description/meshes/f1.stl"/>
        </geometry>
        <material name="${side}_sandia_hand_skin">
          <color rgba="0.835 0.655 0.345 1.0"/>
        </material>
      </visual>
      <!-   end visual mesh of f1 -->
  </link>
  <link name="right_f3_1_accel">
    <origin rpy="0 0 0" xyz="0 0 0"/>
    <inertial>
      <mass value="0.01"/>
      <origin xyz="0 0 0"/>
      <inertia ixx="0.0001" ixy="0" ixz="0" iyy="0.0001" iyz="0" izz="0.0001"/>
    </inertial>
  </link>
  <link name="right_f3_2">
    <origin rpy="0 0 0" xyz="0 0 0"/>
    <inertial>
      <mass value="0.033"/>
      <!-- F3 -->
      <origin xyz="0 0 0"/>
      <!-- solid cylinder -->
      <inertia ixx="0.00013365" ixy="0" ixz="0" iyy="0.0009603" iyz="0" izz="0.0009603"/>
    </inertial>
    <!-- begin simple shape approximation of f2 -->
    <collision group="default">
      <origin rpy="0 1.57079632679 0" xyz="0.024 0 0"/>
      <geometry>
        <cylinder length="0.057" radius="0.009"/>
      </geometry>
    </collision>
    <collision group="other">
      <origin rpy="0 0 0" xyz="0.052 0 0"/>
      <geometry>
        <sphere radius="0.009"/>
      </geometry>
    </collision>
    <!--   end simple shape approximation of f2 -->
    <!-- begin visual shape approximation of f2 -->
    <visual>
      <origin rpy="0 1.57079632679 0" xyz="0.024 0 0"/>
      <geometry>
        <cylinder length="0.057" radius="0.009"/>
      </geometry>
      <material name="right_sandia_hand_skin_suntan">
        <color rgba="0.8 0.6 0.3 1.0"/>
      </material>
    </visual>
    <visual>
      <origin rpy="0 0 0" xyz="0.052 0 0"/>
      <geometry>
        <sphere radius="0.009"/>
      </geometry>
      <material name="right_sandia_hand_skin_suntan">
        <color rgba="0.8 0.6 0.3 1.0"/>
      </material>
    </visual>
    <!-- begin collision mesh of f2    ->
      <collision group="default">
        <origin xyz="0 0 0" rpy="0 0 0"/>
        <geometry>
          <mesh filename="package://sandia_hand_description/meshes/f2.stl"/>
        </geometry>
      </collision>
      <!-   end collision mesh of f2 -->
    <!-- begin visual mesh of f2    ->
      <visual>
        <origin xyz="0 0 0" rpy="0 0 0"/>
        <geometry>
          <mesh filename="package://sandia_hand_description/meshes/f2.stl"/>
        </geometry>
        <material name="${side}_sandia_hand_skin_suntan">
          <color rgba="0.8 0.6 0.3 1.0"/>
        </material>
      </visual>
      <!-   end visual mesh of f2 -->
  </link>
  <link name="right_f3_2_accel">
    <origin rpy="0 0 0" xyz="0 0 0"/>
    <inertial>
      <mass value="0.01"/>
      <origin xyz="0 0 0"/>
      <inertia ixx="0.0001" ixy="0" ixz="0" iyy="0.0001" iyz="0" izz="0.0001"/>
    </inertial>
  </link>
  <joint name="right_f3_base" type="fixed">
    <parent link="right_palm"/>
    <child link="right_f3_base"/>
    <origin rpy="0 -1.57079632679 -2.3562" xyz="0.03995 -0.04383 0.014"/>
  </joint>
  <joint name="right_f3_j0" type="revolute">
    <axis xyz="0 0 1"/>
    <parent link="right_f3_base"/>
    <child link="right_f3_0"/>
    <limit effort="1" lower="-1.57079632679" upper="1.57079632679" velocity="1"/>
    <safety_controller k_position="1000.0" k_velocity="1000.0" soft_lower_limit="-11.57079" soft_upper_limit="11.57079"/>
    <dynamics damping="0.01"/>
    <origin rpy="0 0 0" xyz="0 0 0"/>
  </joint>
  <joint name="right_f3_j1" type="revolute">
    <axis xyz="0 0 1"/>
    <parent link="right_f3_0"/>
    <child link="right_f3_1"/>
    <limit effort="1" lower="-1.57079632679" upper="1.57079632679" velocity="1"/>
    <safety_controller k_position="1000.0" k_velocity="1000.0" soft_lower_limit="-11.57079" soft_upper_limit="11.57079"/>
    <dynamics damping="0.01"/>
    <origin rpy="1.57079632679 0 0" xyz="0.028 0 0"/>
  </joint>
  <joint name="right_f3_j2" type="revolute">
    <axis xyz="0 0 1"/>
    <parent link="right_f3_1"/>
    <child link="right_f3_2"/>
    <origin rpy="0 0 0" xyz="0.05 0 0"/>
    <safety_controller k_position="1000.0" k_velocity="1000.0" soft_lower_limit="-11.57079" soft_upper_limit="11.57079"/>
    <dynamics damping="0.01"/>
    <limit effort="1" lower="-1.57079632679" upper="1.57079632679" velocity="1"/>
  </joint>
  <joint name="right_f3_fixed_accel" type="fixed">
    <parent link="right_f3_base"/>
    <child link="right_f3_fixed_accel"/>
    <origin rpy="0 0 0" xyz="-0.05 0 0"/>
  </joint>
  <joint name="right_f3_1_accel" type="fixed">
    <parent link="right_f3_1"/>
    <child link="right_f3_1_accel"/>
    <origin rpy="-1.57079632679 0 0" xyz="0.03 0 0"/>
  </joint>
  <joint name="right_f3_2_accel" type="fixed">
    <parent link="right_f3_2"/>
    <child link="right_f3_2_accel"/>
    <origin rpy="-1.57079632679 0 0" xyz="0.04 0 0"/>
  </joint>
  <gazebo reference="right_f3_base">
    <mu1>0.9</mu1>
    <mu2>0.9</mu2>
  </gazebo>
  <gazebo reference="right_f3_0">
    <mu1>0.9</mu1>
    <mu2>0.9</mu2>
  </gazebo>
  <gazebo reference="right_f3_1">
    <mu1>0.9</mu1>
    <mu2>0.9</mu2>
  </gazebo>
  <gazebo reference="right_f3_2">
    <mu1>0.9</mu1>
    <mu2>0.9</mu2>
  </gazebo>
  <transmission name="right_f3_j0" type="pr2_mechanism_model/SimpleTransmission">
    <joint name="right_f3_j0"/>
    <actuator name="right_f3_j0_motor"/>
    <mechanicalReduction>1</mechanicalReduction>
  </transmission>
  <transmission name="right_f3_j1" type="pr2_mechanism_model/SimpleTransmission">
    <joint name="right_f3_j1"/>
    <actuator name="right_f3_j1_motor"/>
    <mechanicalReduction>1</mechanicalReduction>
  </transmission>
  <transmission name="right_f3_j2" type="pr2_mechanism_model/SimpleTransmission">
    <joint name="right_f3_j2"/>
    <actuator name="right_f3_j2_motor"/>
    <mechanicalReduction>1</mechanicalReduction>
  </transmission>
  <link name="left_palm">
    <origin rpy="0 0 0" xyz="0 0 0"/>
    <inertial>
      <mass value="1.303"/>
      <origin xyz="0 0 0"/>
      <!-- solid sphere with 5cm radius -->
      <inertia ixx="0.001303" ixy="0" ixz="0" iyy="0.001303" iyz="0" izz="0.001303"/>
    </inertial>
    <!-- begin simple shape approximation of palm -->
    <collision group="default">
      <origin rpy="0 1.57079632679 0.9" xyz="0.069 -0.016 0.038"/>
      <geometry>
        <cylinder length="0.100" radius="0.013"/>
      </geometry>
    </collision>
    <collision group="other">
      <origin rpy="0.41 0 0.9" xyz="0.064 -0.008 0.021"/>
      <geometry>
        <box size="0.09 .035 .05"/>
      </geometry>
    </collision>
    <collision group="other">
      <origin rpy="0 1.57079632679 0" xyz="0.02 0 -0.005"/>
      <geometry>
        <cylinder length="0.05" radius="0.038"/>
      </geometry>
    </collision>
    <collision group="other">
      <origin rpy="0 0 -0.37" xyz="0.11 0.01 -0.005"/>
      <geometry>
        <box size="0.09 .03 .06"/>
      </geometry>
    </collision>
    <collision group="other">
      <origin rpy="0 0 -0.37" xyz="0.09 -0.02 -0.005"/>
      <geometry>
        <box size="0.09 .03 .06"/>
      </geometry>
    </collision>
    <collision group="other">
      <origin rpy="0 0 -0.37" xyz="0.060 -0.05 -0.005"/>
      <geometry>
        <box size="0.09 .03 .06"/>
      </geometry>
    </collision>
    <collision group="other">
      <origin rpy="0 0 -0.79" xyz="0.044 0.04 -0.005"/>
      <geometry>
        <box size="0.09 .03 .06"/>
      </geometry>
    </collision>
    <!--   end simple shape approximation of palm -->
    <!-- begin visual shape approximation of palm -->
    <visual>
      <origin rpy="0 1.57079632679 0.9" xyz="0.069 -0.016 0.038"/>
      <geometry>
        <cylinder length="0.100" radius="0.013"/>
      </geometry>
      <material name="left_sandia_hand_skin">
        <color rgba="0.835 0.655 0.345 1.0"/>
      </material>
    </visual>
    <visual>
      <origin rpy="0.41 0 0.9" xyz="0.064 -0.008 0.021"/>
      <geometry>
        <box size="0.09 .035 .05"/>
      </geometry>
      <material name="left_sandia_hand_skin">
        <color rgba="0.835 0.655 0.345 1.0"/>
      </material>
    </visual>
    <visual>
      <origin rpy="0 1.57079632679 0" xyz="0.02 0 -0.005"/>
      <geometry>
        <cylinder length="0.05" radius="0.038"/>
      </geometry>
      <material name="left_sandia_hand_skin">
        <color rgba="0.835 0.655 0.345 1.0"/>
      </material>
    </visual>
    <visual>
      <origin rpy="0 0 -0.37" xyz="0.11 0.01 -0.005"/>
      <geometry>
        <box size="0.09 .03 .06"/>
      </geometry>
      <material name="left_sandia_hand_skin">
        <color rgba="0.835 0.655 0.345 1.0"/>
      </material>
    </visual>
    <visual>
      <origin rpy="0 0 -0.37" xyz="0.09 -0.02 -0.005"/>
      <geometry>
        <box size="0.09 .03 .06"/>
      </geometry>
      <material name="left_sandia_hand_skin">
        <color rgba="0.835 0.655 0.345 1.0"/>
      </material>
    </visual>
    <visual>
      <origin rpy="0 0 -0.37" xyz="0.060 -0.05 -0.005"/>
      <geometry>
        <box size="0.09 .03 .06"/>
      </geometry>
      <material name="left_sandia_hand_skin">
        <color rgba="0.835 0.655 0.345 1.0"/>
      </material>
    </visual>
    <visual>
      <origin rpy="0 0 -0.79" xyz="0.044 0.04 -0.005"/>
      <geometry>
        <box size="0.09 .03 .06"/>
      </geometry>
      <material name="left_sandia_hand_skin">
        <color rgba="0.835 0.655 0.345 1.0"/>
      </material>
    </visual>
    <!--   end visual shape approximation of palm -->
    <!-- begin collision mesh of f2 ->
      <collision group="default">
        <origin xyz="0 0 0" rpy="0 0 0"/>
        <geometry>
          <mesh filename="package://sandia_hand_description/meshes/palm.stl"/>
        </geometry>
      </collision>
      <!-   end collision mesh of f2 -->
    <!-- begin visual mesh of f2    ->
      <visual>
        <origin xyz="0 0 0" rpy="0 0 0"/>
        <geometry>
          <mesh filename="package://sandia_hand_description/meshes/palm.stl"/>
        </geometry>
        <material name="${side}_sandia_hand_skin">
          <color rgba="0.835 0.655 0.345 1.0"/>
        </material>
      </visual>
      <!-   end visual mesh of f2 -->
  </link>
  <joint name="left_sandia_hand_joint" type="fixed">
    <parent link="l_hand"/>
    <child link="left_palm"/>
    <origin rpy=" 1.57079 0  1.57079" xyz="0  0.1 0"/>
  </joint>
  <link name="left_f0_base">
    <origin rpy="0 0 0" xyz="0 0 0"/>
    <inertial>
      <!-- total mass is 2.303 kg, palm is about 1.303 kg, distribute the rest into _base -->
      <mass value="0.250"/>
      <!-- (2.303 - 1.303) / 4 -->
      <origin xyz="0 0 0"/>
      <!-- model as sphere with radius of 1cm -->
      <inertia ixx="0.001" ixy="0" ixz="0" iyy="0.001" iyz="0" izz="0.001"/>
    </inertial>
  </link>
  <link name="left_f0_fixed_accel">
    <origin rpy="0 0 0" xyz="0 0 0"/>
    <inertial>
      <mass value="0.01"/>
      <origin xyz="0 0 0"/>
      <inertia ixx="0.0001" ixy="0" ixz="0" iyy="0.0001" iyz="0" izz="0.0001"/>
    </inertial>
  </link>
  <link name="left_f0_0">
    <origin rpy="0 0 0" xyz="0 0 0"/>
    <inertial>
      <mass value="0.106"/>
      <!-- F1 -->
      <origin xyz="0 0 0"/>
      <!-- solid cylinder -->
      <inertia ixx="0.011505" ixy="0" ixz="0" iyy="0.011505" iyz="0" izz="0.0011925"/>
    </inertial>
    <!-- begin simple shape approximation of f0 -->
    <collision group="default">
      <origin rpy="0 0 0" xyz="0 0 0.003"/>
      <geometry>
        <cylinder length="0.023" radius="0.015"/>
      </geometry>
    </collision>
    <collision group="other">
      <origin rpy="1.57079632679 0 0" xyz="0.011 0 0.003"/>
      <geometry>
        <cylinder length="0.023" radius="0.01"/>
      </geometry>
    </collision>
    <!--   end simple shape approximation of f0 -->
    <!-- begin visual shape approximation of f0 -->
    <visual>
      <origin rpy="0 0 0" xyz="0 0 0.003"/>
      <geometry>
        <cylinder length="0.023" radius="0.015"/>
      </geometry>
      <material name="left_sandia_hand_skin_suntan">
        <color rgba="0.7 0.4 0.2 1.0"/>
      </material>
    </visual>
    <visual>
      <origin rpy="1.57079632679 0 0" xyz="0.011 0 0.003"/>
      <geometry>
        <cylinder length="0.023" radius="0.01"/>
      </geometry>
      <material name="left_sandia_hand_skin_suntan">
        <color rgba="0.7 0.4 0.2 1.0"/>
      </material>
    </visual>
    <!--   end visual shape approximation of f0 -->
    <!-- begin collision mesh of f0 ->
      <collision group="default">
        <origin xyz="0 0 0" rpy="0 0 0"/>
        <geometry>
          <mesh filename="package://sandia_hand_description/meshes/f0.stl"/>
        </geometry>
      </collision>
      <!-   end collision mesh of f0 -->
    <!-- begin visual mesh of f0 ->
      <visual>
        <origin xyz="0 0 0" rpy="0 0 0"/>
        <geometry>
          <mesh filename="package://sandia_hand_description/meshes/f0.stl"/>
        </geometry>
        <material name="${side}_sandia_hand_skin_suntan">
          <color rgba="0.7 0.4 0.2 1.0"/>
        </material>
      </visual>
      <!-   end visual mesh of f0 -->
  </link>
  <link name="left_f0_1">
    <origin rpy="0 0 0" xyz="0 0 0"/>
    <inertial>
      <mass value="0.033"/>
      <!-- F2 -->
      <origin xyz="0 0 0"/>
      <!-- solid cylinder -->
      <inertia ixx="0.000165" ixy="0" ixz="0" iyy="0.001316975" iyz="0" izz="0.001316975"/>
    </inertial>
    <!-- begin simple shape approximation of f1 -->
    <collision group="default">
      <origin rpy="0 1.57079632679 0" xyz="0.024 0 0"/>
      <geometry>
        <cylinder length="0.067" radius="0.01"/>
      </geometry>
    </collision>
    <!--   end simple shape approximation of f1 -->
    <!-- begin visual shape approximation of f1 -->
    <visual>
      <origin rpy="0 1.57079632679 0" xyz="0.024 0 0"/>
      <geometry>
        <cylinder length="0.067" radius="0.01"/>
      </geometry>
      <material name="left_sandia_hand_skin">
        <color rgba="0.835 0.655 0.345 1.0"/>
      </material>
    </visual>
    <!--   end visual shape approximation of f1 -->
    <!-- begin collision mesh of f1 ->
      <collision group="default">
        <origin xyz="0 0 0" rpy="0 0 0"/>
        <geometry>
          <mesh filename="package://sandia_hand_description/meshes/f1.stl"/>
        </geometry>
      </collision>
      <!-   end collision mesh of f1 -->
    <!-- begin visual mesh of f1 ->
      <visual>
        <origin xyz="0 0 0" rpy="0 0 0"/>
        <geometry>
          <mesh filename="package://sandia_hand_description/meshes/f1.stl"/>
        </geometry>
        <material name="${side}_sandia_hand_skin">
          <color rgba="0.835 0.655 0.345 1.0"/>
        </material>
      </visual>
      <!-   end visual mesh of f1 -->
  </link>
  <link name="left_f0_1_accel">
    <origin rpy="0 0 0" xyz="0 0 0"/>
    <inertial>
      <mass value="0.01"/>
      <origin xyz="0 0 0"/>
      <inertia ixx="0.0001" ixy="0" ixz="0" iyy="0.0001" iyz="0" izz="0.0001"/>
    </inertial>
  </link>
  <link name="left_f0_2">
    <origin rpy="0 0 0" xyz="0 0 0"/>
    <inertial>
      <mass value="0.033"/>
      <!-- F3 -->
      <origin xyz="0 0 0"/>
      <!-- solid cylinder -->
      <inertia ixx="0.00013365" ixy="0" ixz="0" iyy="0.0009603" iyz="0" izz="0.0009603"/>
    </inertial>
    <!-- begin simple shape approximation of f2 -->
    <collision group="default">
      <origin rpy="0 1.57079632679 0" xyz="0.024 0 0"/>
      <geometry>
        <cylinder length="0.057" radius="0.009"/>
      </geometry>
    </collision>
    <collision group="other">
      <origin rpy="0 0 0" xyz="0.052 0 0"/>
      <geometry>
        <sphere radius="0.009"/>
      </geometry>
    </collision>
    <!--   end simple shape approximation of f2 -->
    <!-- begin visual shape approximation of f2 -->
    <visual>
      <origin rpy="0 1.57079632679 0" xyz="0.024 0 0"/>
      <geometry>
        <cylinder length="0.057" radius="0.009"/>
      </geometry>
      <material name="left_sandia_hand_skin_suntan">
        <color rgba="0.8 0.6 0.3 1.0"/>
      </material>
    </visual>
    <visual>
      <origin rpy="0 0 0" xyz="0.052 0 0"/>
      <geometry>
        <sphere radius="0.009"/>
      </geometry>
      <material name="left_sandia_hand_skin_suntan">
        <color rgba="0.8 0.6 0.3 1.0"/>
      </material>
    </visual>
    <!-- begin collision mesh of f2    ->
      <collision group="default">
        <origin xyz="0 0 0" rpy="0 0 0"/>
        <geometry>
          <mesh filename="package://sandia_hand_description/meshes/f2.stl"/>
        </geometry>
      </collision>
      <!-   end collision mesh of f2 -->
    <!-- begin visual mesh of f2    ->
      <visual>
        <origin xyz="0 0 0" rpy="0 0 0"/>
        <geometry>
          <mesh filename="package://sandia_hand_description/meshes/f2.stl"/>
        </geometry>
        <material name="${side}_sandia_hand_skin_suntan">
          <color rgba="0.8 0.6 0.3 1.0"/>
        </material>
      </visual>
      <!-   end visual mesh of f2 -->
  </link>
  <link name="left_f0_2_accel">
    <origin rpy="0 0 0" xyz="0 0 0"/>
    <inertial>
      <mass value="0.01"/>
      <origin xyz="0 0 0"/>
      <inertia ixx="0.0001" ixy="0" ixz="0" iyy="0.0001" iyz="0" izz="0.0001"/>
    </inertial>
  </link>
  <joint name="left_f0_base" type="fixed">
    <parent link="left_palm"/>
    <child link="left_f0_base"/>
    <origin rpy="0 0 -0.3" xyz="0.14 0.0 0"/>
  </joint>
  <joint name="left_f0_j0" type="revolute">
    <axis xyz="0 0 -1"/>
    <parent link="left_f0_base"/>
    <child link="left_f0_0"/>
    <limit effort="1" lower="-1.57079632679" upper="1.57079632679" velocity="1"/>
    <safety_controller k_position="1000.0" k_velocity="1000.0" soft_lower_limit="-11.57079" soft_upper_limit="11.57079"/>
    <dynamics damping="0.01"/>
    <origin rpy="0 0 0" xyz="0 0 0"/>
  </joint>
  <joint name="left_f0_j1" type="revolute">
    <axis xyz="0 0 1"/>
    <parent link="left_f0_0"/>
    <child link="left_f0_1"/>
    <limit effort="1" lower="-1.57079632679" upper="1.57079632679" velocity="1"/>
    <safety_controller k_position="1000.0" k_velocity="1000.0" soft_lower_limit="-11.57079" soft_upper_limit="11.57079"/>
    <dynamics damping="0.01"/>
    <origin rpy="1.57079632679 0 0" xyz="0.028 0 0"/>
  </joint>
  <joint name="left_f0_j2" type="revolute">
    <axis xyz="0 0 1"/>
    <parent link="left_f0_1"/>
    <child link="left_f0_2"/>
    <origin rpy="0 0 0" xyz="0.05 0 0"/>
    <safety_controller k_position="1000.0" k_velocity="1000.0" soft_lower_limit="-11.57079" soft_upper_limit="11.57079"/>
    <dynamics damping="0.01"/>
    <limit effort="1" lower="-1.57079632679" upper="1.57079632679" velocity="1"/>
  </joint>
  <joint name="left_f0_fixed_accel" type="fixed">
    <parent link="left_f0_base"/>
    <child link="left_f0_fixed_accel"/>
    <origin rpy="0 0 0" xyz="-0.05 0 0"/>
  </joint>
  <joint name="left_f0_1_accel" type="fixed">
    <parent link="left_f0_1"/>
    <child link="left_f0_1_accel"/>
    <origin rpy="-1.57079632679 0 0" xyz="0.03 0 0"/>
  </joint>
  <joint name="left_f0_2_accel" type="fixed">
    <parent link="left_f0_2"/>
    <child link="left_f0_2_accel"/>
    <origin rpy="-1.57079632679 0 0" xyz="0.04 0 0"/>
  </joint>
  <gazebo reference="left_f0_base">
    <mu1>0.9</mu1>
    <mu2>0.9</mu2>
  </gazebo>
  <gazebo reference="left_f0_0">
    <mu1>0.9</mu1>
    <mu2>0.9</mu2>
  </gazebo>
  <gazebo reference="left_f0_1">
    <mu1>0.9</mu1>
    <mu2>0.9</mu2>
  </gazebo>
  <gazebo reference="left_f0_2">
    <mu1>0.9</mu1>
    <mu2>0.9</mu2>
  </gazebo>
  <transmission name="left_f0_j0" type="pr2_mechanism_model/SimpleTransmission">
    <joint name="left_f0_j0"/>
    <actuator name="left_f0_j0_motor"/>
    <mechanicalReduction>1</mechanicalReduction>
  </transmission>
  <transmission name="left_f0_j1" type="pr2_mechanism_model/SimpleTransmission">
    <joint name="left_f0_j1"/>
    <actuator name="left_f0_j1_motor"/>
    <mechanicalReduction>1</mechanicalReduction>
  </transmission>
  <transmission name="left_f0_j2" type="pr2_mechanism_model/SimpleTransmission">
    <joint name="left_f0_j2"/>
    <actuator name="left_f0_j2_motor"/>
    <mechanicalReduction>1</mechanicalReduction>
  </transmission>
  <link name="left_f1_base">
    <origin rpy="0 0 0" xyz="0 0 0"/>
    <inertial>
      <!-- total mass is 2.303 kg, palm is about 1.303 kg, distribute the rest into _base -->
      <mass value="0.250"/>
      <!-- (2.303 - 1.303) / 4 -->
      <origin xyz="0 0 0"/>
      <!-- model as sphere with radius of 1cm -->
      <inertia ixx="0.001" ixy="0" ixz="0" iyy="0.001" iyz="0" izz="0.001"/>
    </inertial>
  </link>
  <link name="left_f1_fixed_accel">
    <origin rpy="0 0 0" xyz="0 0 0"/>
    <inertial>
      <mass value="0.01"/>
      <origin xyz="0 0 0"/>
      <inertia ixx="0.0001" ixy="0" ixz="0" iyy="0.0001" iyz="0" izz="0.0001"/>
    </inertial>
  </link>
  <link name="left_f1_0">
    <origin rpy="0 0 0" xyz="0 0 0"/>
    <inertial>
      <mass value="0.106"/>
      <!-- F1 -->
      <origin xyz="0 0 0"/>
      <!-- solid cylinder -->
      <inertia ixx="0.011505" ixy="0" ixz="0" iyy="0.011505" iyz="0" izz="0.0011925"/>
    </inertial>
    <!-- begin simple shape approximation of f0 -->
    <collision group="default">
      <origin rpy="0 0 0" xyz="0 0 0.003"/>
      <geometry>
        <cylinder length="0.023" radius="0.015"/>
      </geometry>
    </collision>
    <collision group="other">
      <origin rpy="1.57079632679 0 0" xyz="0.011 0 0.003"/>
      <geometry>
        <cylinder length="0.023" radius="0.01"/>
      </geometry>
    </collision>
    <!--   end simple shape approximation of f0 -->
    <!-- begin visual shape approximation of f0 -->
    <visual>
      <origin rpy="0 0 0" xyz="0 0 0.003"/>
      <geometry>
        <cylinder length="0.023" radius="0.015"/>
      </geometry>
      <material name="left_sandia_hand_skin_suntan">
        <color rgba="0.7 0.4 0.2 1.0"/>
      </material>
    </visual>
    <visual>
      <origin rpy="1.57079632679 0 0" xyz="0.011 0 0.003"/>
      <geometry>
        <cylinder length="0.023" radius="0.01"/>
      </geometry>
      <material name="left_sandia_hand_skin_suntan">
        <color rgba="0.7 0.4 0.2 1.0"/>
      </material>
    </visual>
    <!--   end visual shape approximation of f0 -->
    <!-- begin collision mesh of f0 ->
      <collision group="default">
        <origin xyz="0 0 0" rpy="0 0 0"/>
        <geometry>
          <mesh filename="package://sandia_hand_description/meshes/f0.stl"/>
        </geometry>
      </collision>
      <!-   end collision mesh of f0 -->
    <!-- begin visual mesh of f0 ->
      <visual>
        <origin xyz="0 0 0" rpy="0 0 0"/>
        <geometry>
          <mesh filename="package://sandia_hand_description/meshes/f0.stl"/>
        </geometry>
        <material name="${side}_sandia_hand_skin_suntan">
          <color rgba="0.7 0.4 0.2 1.0"/>
        </material>
      </visual>
      <!-   end visual mesh of f0 -->
  </link>
  <link name="left_f1_1">
    <origin rpy="0 0 0" xyz="0 0 0"/>
    <inertial>
      <mass value="0.033"/>
      <!-- F2 -->
      <origin xyz="0 0 0"/>
      <!-- solid cylinder -->
      <inertia ixx="0.000165" ixy="0" ixz="0" iyy="0.001316975" iyz="0" izz="0.001316975"/>
    </inertial>
    <!-- begin simple shape approximation of f1 -->
    <collision group="default">
      <origin rpy="0 1.57079632679 0" xyz="0.024 0 0"/>
      <geometry>
        <cylinder length="0.067" radius="0.01"/>
      </geometry>
    </collision>
    <!--   end simple shape approximation of f1 -->
    <!-- begin visual shape approximation of f1 -->
    <visual>
      <origin rpy="0 1.57079632679 0" xyz="0.024 0 0"/>
      <geometry>
        <cylinder length="0.067" radius="0.01"/>
      </geometry>
      <material name="left_sandia_hand_skin">
        <color rgba="0.835 0.655 0.345 1.0"/>
      </material>
    </visual>
    <!--   end visual shape approximation of f1 -->
    <!-- begin collision mesh of f1 ->
      <collision group="default">
        <origin xyz="0 0 0" rpy="0 0 0"/>
        <geometry>
          <mesh filename="package://sandia_hand_description/meshes/f1.stl"/>
        </geometry>
      </collision>
      <!-   end collision mesh of f1 -->
    <!-- begin visual mesh of f1 ->
      <visual>
        <origin xyz="0 0 0" rpy="0 0 0"/>
        <geometry>
          <mesh filename="package://sandia_hand_description/meshes/f1.stl"/>
        </geometry>
        <material name="${side}_sandia_hand_skin">
          <color rgba="0.835 0.655 0.345 1.0"/>
        </material>
      </visual>
      <!-   end visual mesh of f1 -->
  </link>
  <link name="left_f1_1_accel">
    <origin rpy="0 0 0" xyz="0 0 0"/>
    <inertial>
      <mass value="0.01"/>
      <origin xyz="0 0 0"/>
      <inertia ixx="0.0001" ixy="0" ixz="0" iyy="0.0001" iyz="0" izz="0.0001"/>
    </inertial>
  </link>
  <link name="left_f1_2">
    <origin rpy="0 0 0" xyz="0 0 0"/>
    <inertial>
      <mass value="0.033"/>
      <!-- F3 -->
      <origin xyz="0 0 0"/>
      <!-- solid cylinder -->
      <inertia ixx="0.00013365" ixy="0" ixz="0" iyy="0.0009603" iyz="0" izz="0.0009603"/>
    </inertial>
    <!-- begin simple shape approximation of f2 -->
    <collision group="default">
      <origin rpy="0 1.57079632679 0" xyz="0.024 0 0"/>
      <geometry>
        <cylinder length="0.057" radius="0.009"/>
      </geometry>
    </collision>
    <collision group="other">
      <origin rpy="0 0 0" xyz="0.052 0 0"/>
      <geometry>
        <sphere radius="0.009"/>
      </geometry>
    </collision>
    <!--   end simple shape approximation of f2 -->
    <!-- begin visual shape approximation of f2 -->
    <visual>
      <origin rpy="0 1.57079632679 0" xyz="0.024 0 0"/>
      <geometry>
        <cylinder length="0.057" radius="0.009"/>
      </geometry>
      <material name="left_sandia_hand_skin_suntan">
        <color rgba="0.8 0.6 0.3 1.0"/>
      </material>
    </visual>
    <visual>
      <origin rpy="0 0 0" xyz="0.052 0 0"/>
      <geometry>
        <sphere radius="0.009"/>
      </geometry>
      <material name="left_sandia_hand_skin_suntan">
        <color rgba="0.8 0.6 0.3 1.0"/>
      </material>
    </visual>
    <!-- begin collision mesh of f2    ->
      <collision group="default">
        <origin xyz="0 0 0" rpy="0 0 0"/>
        <geometry>
          <mesh filename="package://sandia_hand_description/meshes/f2.stl"/>
        </geometry>
      </collision>
      <!-   end collision mesh of f2 -->
    <!-- begin visual mesh of f2    ->
      <visual>
        <origin xyz="0 0 0" rpy="0 0 0"/>
        <geometry>
          <mesh filename="package://sandia_hand_description/meshes/f2.stl"/>
        </geometry>
        <material name="${side}_sandia_hand_skin_suntan">
          <color rgba="0.8 0.6 0.3 1.0"/>
        </material>
      </visual>
      <!-   end visual mesh of f2 -->
  </link>
  <link name="left_f1_2_accel">
    <origin rpy="0 0 0" xyz="0 0 0"/>
    <inertial>
      <mass value="0.01"/>
      <origin xyz="0 0 0"/>
      <inertia ixx="0.0001" ixy="0" ixz="0" iyy="0.0001" iyz="0" izz="0.0001"/>
    </inertial>
  </link>
  <joint name="left_f1_base" type="fixed">
    <parent link="left_palm"/>
    <child link="left_f1_base"/>
    <origin rpy="0 0 -0.3" xyz="0.115 -0.03122 0"/>
  </joint>
  <joint name="left_f1_j0" type="revolute">
    <axis xyz="0 0 -1"/>
    <parent link="left_f1_base"/>
    <child link="left_f1_0"/>
    <limit effort="1" lower="-1.57079632679" upper="1.57079632679" velocity="1"/>
    <safety_controller k_position="1000.0" k_velocity="1000.0" soft_lower_limit="-11.57079" soft_upper_limit="11.57079"/>
    <dynamics damping="0.01"/>
    <origin rpy="0 0 0" xyz="0 0 0"/>
  </joint>
  <joint name="left_f1_j1" type="revolute">
    <axis xyz="0 0 1"/>
    <parent link="left_f1_0"/>
    <child link="left_f1_1"/>
    <limit effort="1" lower="-1.57079632679" upper="1.57079632679" velocity="1"/>
    <safety_controller k_position="1000.0" k_velocity="1000.0" soft_lower_limit="-11.57079" soft_upper_limit="11.57079"/>
    <dynamics damping="0.01"/>
    <origin rpy="1.57079632679 0 0" xyz="0.028 0 0"/>
  </joint>
  <joint name="left_f1_j2" type="revolute">
    <axis xyz="0 0 1"/>
    <parent link="left_f1_1"/>
    <child link="left_f1_2"/>
    <origin rpy="0 0 0" xyz="0.05 0 0"/>
    <safety_controller k_position="1000.0" k_velocity="1000.0" soft_lower_limit="-11.57079" soft_upper_limit="11.57079"/>
    <dynamics damping="0.01"/>
    <limit effort="1" lower="-1.57079632679" upper="1.57079632679" velocity="1"/>
  </joint>
  <joint name="left_f1_fixed_accel" type="fixed">
    <parent link="left_f1_base"/>
    <child link="left_f1_fixed_accel"/>
    <origin rpy="0 0 0" xyz="-0.05 0 0"/>
  </joint>
  <joint name="left_f1_1_accel" type="fixed">
    <parent link="left_f1_1"/>
    <child link="left_f1_1_accel"/>
    <origin rpy="-1.57079632679 0 0" xyz="0.03 0 0"/>
  </joint>
  <joint name="left_f1_2_accel" type="fixed">
    <parent link="left_f1_2"/>
    <child link="left_f1_2_accel"/>
    <origin rpy="-1.57079632679 0 0" xyz="0.04 0 0"/>
  </joint>
  <gazebo reference="left_f1_base">
    <mu1>0.9</mu1>
    <mu2>0.9</mu2>
  </gazebo>
  <gazebo reference="left_f1_0">
    <mu1>0.9</mu1>
    <mu2>0.9</mu2>
  </gazebo>
  <gazebo reference="left_f1_1">
    <mu1>0.9</mu1>
    <mu2>0.9</mu2>
  </gazebo>
  <gazebo reference="left_f1_2">
    <mu1>0.9</mu1>
    <mu2>0.9</mu2>
  </gazebo>
  <transmission name="left_f1_j0" type="pr2_mechanism_model/SimpleTransmission">
    <joint name="left_f1_j0"/>
    <actuator name="left_f1_j0_motor"/>
    <mechanicalReduction>1</mechanicalReduction>
  </transmission>
  <transmission name="left_f1_j1" type="pr2_mechanism_model/SimpleTransmission">
    <joint name="left_f1_j1"/>
    <actuator name="left_f1_j1_motor"/>
    <mechanicalReduction>1</mechanicalReduction>
  </transmission>
  <transmission name="left_f1_j2" type="pr2_mechanism_model/SimpleTransmission">
    <joint name="left_f1_j2"/>
    <actuator name="left_f1_j2_motor"/>
    <mechanicalReduction>1</mechanicalReduction>
  </transmission>
  <link name="left_f2_base">
    <origin rpy="0 0 0" xyz="0 0 0"/>
    <inertial>
      <!-- total mass is 2.303 kg, palm is about 1.303 kg, distribute the rest into _base -->
      <mass value="0.250"/>
      <!-- (2.303 - 1.303) / 4 -->
      <origin xyz="0 0 0"/>
      <!-- model as sphere with radius of 1cm -->
      <inertia ixx="0.001" ixy="0" ixz="0" iyy="0.001" iyz="0" izz="0.001"/>
    </inertial>
  </link>
  <link name="left_f2_fixed_accel">
    <origin rpy="0 0 0" xyz="0 0 0"/>
    <inertial>
      <mass value="0.01"/>
      <origin xyz="0 0 0"/>
      <inertia ixx="0.0001" ixy="0" ixz="0" iyy="0.0001" iyz="0" izz="0.0001"/>
    </inertial>
  </link>
  <link name="left_f2_0">
    <origin rpy="0 0 0" xyz="0 0 0"/>
    <inertial>
      <mass value="0.106"/>
      <!-- F1 -->
      <origin xyz="0 0 0"/>
      <!-- solid cylinder -->
      <inertia ixx="0.011505" ixy="0" ixz="0" iyy="0.011505" iyz="0" izz="0.0011925"/>
    </inertial>
    <!-- begin simple shape approximation of f0 -->
    <collision group="default">
      <origin rpy="0 0 0" xyz="0 0 0.003"/>
      <geometry>
        <cylinder length="0.023" radius="0.015"/>
      </geometry>
    </collision>
    <collision group="other">
      <origin rpy="1.57079632679 0 0" xyz="0.011 0 0.003"/>
      <geometry>
        <cylinder length="0.023" radius="0.01"/>
      </geometry>
    </collision>
    <!--   end simple shape approximation of f0 -->
    <!-- begin visual shape approximation of f0 -->
    <visual>
      <origin rpy="0 0 0" xyz="0 0 0.003"/>
      <geometry>
        <cylinder length="0.023" radius="0.015"/>
      </geometry>
      <material name="left_sandia_hand_skin_suntan">
        <color rgba="0.7 0.4 0.2 1.0"/>
      </material>
    </visual>
    <visual>
      <origin rpy="1.57079632679 0 0" xyz="0.011 0 0.003"/>
      <geometry>
        <cylinder length="0.023" radius="0.01"/>
      </geometry>
      <material name="left_sandia_hand_skin_suntan">
        <color rgba="0.7 0.4 0.2 1.0"/>
      </material>
    </visual>
    <!--   end visual shape approximation of f0 -->
    <!-- begin collision mesh of f0 ->
      <collision group="default">
        <origin xyz="0 0 0" rpy="0 0 0"/>
        <geometry>
          <mesh filename="package://sandia_hand_description/meshes/f0.stl"/>
        </geometry>
      </collision>
      <!-   end collision mesh of f0 -->
    <!-- begin visual mesh of f0 ->
      <visual>
        <origin xyz="0 0 0" rpy="0 0 0"/>
        <geometry>
          <mesh filename="package://sandia_hand_description/meshes/f0.stl"/>
        </geometry>
        <material name="${side}_sandia_hand_skin_suntan">
          <color rgba="0.7 0.4 0.2 1.0"/>
        </material>
      </visual>
      <!-   end visual mesh of f0 -->
  </link>
  <link name="left_f2_1">
    <origin rpy="0 0 0" xyz="0 0 0"/>
    <inertial>
      <mass value="0.033"/>
      <!-- F2 -->
      <origin xyz="0 0 0"/>
      <!-- solid cylinder -->
      <inertia ixx="0.000165" ixy="0" ixz="0" iyy="0.001316975" iyz="0" izz="0.001316975"/>
    </inertial>
    <!-- begin simple shape approximation of f1 -->
    <collision group="default">
      <origin rpy="0 1.57079632679 0" xyz="0.024 0 0"/>
      <geometry>
        <cylinder length="0.067" radius="0.01"/>
      </geometry>
    </collision>
    <!--   end simple shape approximation of f1 -->
    <!-- begin visual shape approximation of f1 -->
    <visual>
      <origin rpy="0 1.57079632679 0" xyz="0.024 0 0"/>
      <geometry>
        <cylinder length="0.067" radius="0.01"/>
      </geometry>
      <material name="left_sandia_hand_skin">
        <color rgba="0.835 0.655 0.345 1.0"/>
      </material>
    </visual>
    <!--   end visual shape approximation of f1 -->
    <!-- begin collision mesh of f1 ->
      <collision group="default">
        <origin xyz="0 0 0" rpy="0 0 0"/>
        <geometry>
          <mesh filename="package://sandia_hand_description/meshes/f1.stl"/>
        </geometry>
      </collision>
      <!-   end collision mesh of f1 -->
    <!-- begin visual mesh of f1 ->
      <visual>
        <origin xyz="0 0 0" rpy="0 0 0"/>
        <geometry>
          <mesh filename="package://sandia_hand_description/meshes/f1.stl"/>
        </geometry>
        <material name="${side}_sandia_hand_skin">
          <color rgba="0.835 0.655 0.345 1.0"/>
        </material>
      </visual>
      <!-   end visual mesh of f1 -->
  </link>
  <link name="left_f2_1_accel">
    <origin rpy="0 0 0" xyz="0 0 0"/>
    <inertial>
      <mass value="0.01"/>
      <origin xyz="0 0 0"/>
      <inertia ixx="0.0001" ixy="0" ixz="0" iyy="0.0001" iyz="0" izz="0.0001"/>
    </inertial>
  </link>
  <link name="left_f2_2">
    <origin rpy="0 0 0" xyz="0 0 0"/>
    <inertial>
      <mass value="0.033"/>
      <!-- F3 -->
      <origin xyz="0 0 0"/>
      <!-- solid cylinder -->
      <inertia ixx="0.00013365" ixy="0" ixz="0" iyy="0.0009603" iyz="0" izz="0.0009603"/>
    </inertial>
    <!-- begin simple shape approximation of f2 -->
    <collision group="default">
      <origin rpy="0 1.57079632679 0" xyz="0.024 0 0"/>
      <geometry>
        <cylinder length="0.057" radius="0.009"/>
      </geometry>
    </collision>
    <collision group="other">
      <origin rpy="0 0 0" xyz="0.052 0 0"/>
      <geometry>
        <sphere radius="0.009"/>
      </geometry>
    </collision>
    <!--   end simple shape approximation of f2 -->
    <!-- begin visual shape approximation of f2 -->
    <visual>
      <origin rpy="0 1.57079632679 0" xyz="0.024 0 0"/>
      <geometry>
        <cylinder length="0.057" radius="0.009"/>
      </geometry>
      <material name="left_sandia_hand_skin_suntan">
        <color rgba="0.8 0.6 0.3 1.0"/>
      </material>
    </visual>
    <visual>
      <origin rpy="0 0 0" xyz="0.052 0 0"/>
      <geometry>
        <sphere radius="0.009"/>
      </geometry>
      <material name="left_sandia_hand_skin_suntan">
        <color rgba="0.8 0.6 0.3 1.0"/>
      </material>
    </visual>
    <!-- begin collision mesh of f2    ->
      <collision group="default">
        <origin xyz="0 0 0" rpy="0 0 0"/>
        <geometry>
          <mesh filename="package://sandia_hand_description/meshes/f2.stl"/>
        </geometry>
      </collision>
      <!-   end collision mesh of f2 -->
    <!-- begin visual mesh of f2    ->
      <visual>
        <origin xyz="0 0 0" rpy="0 0 0"/>
        <geometry>
          <mesh filename="package://sandia_hand_description/meshes/f2.stl"/>
        </geometry>
        <material name="${side}_sandia_hand_skin_suntan">
          <color rgba="0.8 0.6 0.3 1.0"/>
        </material>
      </visual>
      <!-   end visual mesh of f2 -->
  </link>
  <link name="left_f2_2_accel">
    <origin rpy="0 0 0" xyz="0 0 0"/>
    <inertial>
      <mass value="0.01"/>
      <origin xyz="0 0 0"/>
      <inertia ixx="0.0001" ixy="0" ixz="0" iyy="0.0001" iyz="0" izz="0.0001"/>
    </inertial>
  </link>
  <joint name="left_f2_base" type="fixed">
    <parent link="left_palm"/>
    <child link="left_f2_base"/>
    <origin rpy="0 0 -0.3" xyz="0.09 -0.06245 0"/>
  </joint>
  <joint name="left_f2_j0" type="revolute">
    <axis xyz="0 0 -1"/>
    <parent link="left_f2_base"/>
    <child link="left_f2_0"/>
    <limit effort="1" lower="-1.57079632679" upper="1.57079632679" velocity="1"/>
    <safety_controller k_position="1000.0" k_velocity="1000.0" soft_lower_limit="-11.57079" soft_upper_limit="11.57079"/>
    <dynamics damping="0.01"/>
    <origin rpy="0 0 0" xyz="0 0 0"/>
  </joint>
  <joint name="left_f2_j1" type="revolute">
    <axis xyz="0 0 1"/>
    <parent link="left_f2_0"/>
    <child link="left_f2_1"/>
    <limit effort="1" lower="-1.57079632679" upper="1.57079632679" velocity="1"/>
    <safety_controller k_position="1000.0" k_velocity="1000.0" soft_lower_limit="-11.57079" soft_upper_limit="11.57079"/>
    <dynamics damping="0.01"/>
    <origin rpy="1.57079632679 0 0" xyz="0.028 0 0"/>
  </joint>
  <joint name="left_f2_j2" type="revolute">
    <axis xyz="0 0 1"/>
    <parent link="left_f2_1"/>
    <child link="left_f2_2"/>
    <origin rpy="0 0 0" xyz="0.05 0 0"/>
    <safety_controller k_position="1000.0" k_velocity="1000.0" soft_lower_limit="-11.57079" soft_upper_limit="11.57079"/>
    <dynamics damping="0.01"/>
    <limit effort="1" lower="-1.57079632679" upper="1.57079632679" velocity="1"/>
  </joint>
  <joint name="left_f2_fixed_accel" type="fixed">
    <parent link="left_f2_base"/>
    <child link="left_f2_fixed_accel"/>
    <origin rpy="0 0 0" xyz="-0.05 0 0"/>
  </joint>
  <joint name="left_f2_1_accel" type="fixed">
    <parent link="left_f2_1"/>
    <child link="left_f2_1_accel"/>
    <origin rpy="-1.57079632679 0 0" xyz="0.03 0 0"/>
  </joint>
  <joint name="left_f2_2_accel" type="fixed">
    <parent link="left_f2_2"/>
    <child link="left_f2_2_accel"/>
    <origin rpy="-1.57079632679 0 0" xyz="0.04 0 0"/>
  </joint>
  <gazebo reference="left_f2_base">
    <mu1>0.9</mu1>
    <mu2>0.9</mu2>
  </gazebo>
  <gazebo reference="left_f2_0">
    <mu1>0.9</mu1>
    <mu2>0.9</mu2>
  </gazebo>
  <gazebo reference="left_f2_1">
    <mu1>0.9</mu1>
    <mu2>0.9</mu2>
  </gazebo>
  <gazebo reference="left_f2_2">
    <mu1>0.9</mu1>
    <mu2>0.9</mu2>
  </gazebo>
  <transmission name="left_f2_j0" type="pr2_mechanism_model/SimpleTransmission">
    <joint name="left_f2_j0"/>
    <actuator name="left_f2_j0_motor"/>
    <mechanicalReduction>1</mechanicalReduction>
  </transmission>
  <transmission name="left_f2_j1" type="pr2_mechanism_model/SimpleTransmission">
    <joint name="left_f2_j1"/>
    <actuator name="left_f2_j1_motor"/>
    <mechanicalReduction>1</mechanicalReduction>
  </transmission>
  <transmission name="left_f2_j2" type="pr2_mechanism_model/SimpleTransmission">
    <joint name="left_f2_j2"/>
    <actuator name="left_f2_j2_motor"/>
    <mechanicalReduction>1</mechanicalReduction>
  </transmission>
  <link name="left_f3_base">
    <origin rpy="0 0 0" xyz="0 0 0"/>
    <inertial>
      <!-- total mass is 2.303 kg, palm is about 1.303 kg, distribute the rest into _base -->
      <mass value="0.250"/>
      <!-- (2.303 - 1.303) / 4 -->
      <origin xyz="0 0 0"/>
      <!-- model as sphere with radius of 1cm -->
      <inertia ixx="0.001" ixy="0" ixz="0" iyy="0.001" iyz="0" izz="0.001"/>
    </inertial>
  </link>
  <link name="left_f3_fixed_accel">
    <origin rpy="0 0 0" xyz="0 0 0"/>
    <inertial>
      <mass value="0.01"/>
      <origin xyz="0 0 0"/>
      <inertia ixx="0.0001" ixy="0" ixz="0" iyy="0.0001" iyz="0" izz="0.0001"/>
    </inertial>
  </link>
  <link name="left_f3_0">
    <origin rpy="0 0 0" xyz="0 0 0"/>
    <inertial>
      <mass value="0.106"/>
      <!-- F1 -->
      <origin xyz="0 0 0"/>
      <!-- solid cylinder -->
      <inertia ixx="0.011505" ixy="0" ixz="0" iyy="0.011505" iyz="0" izz="0.0011925"/>
    </inertial>
    <!-- begin simple shape approximation of f0 -->
    <collision group="default">
      <origin rpy="0 0 0" xyz="0 0 0.003"/>
      <geometry>
        <cylinder length="0.023" radius="0.015"/>
      </geometry>
    </collision>
    <collision group="other">
      <origin rpy="1.57079632679 0 0" xyz="0.011 0 0.003"/>
      <geometry>
        <cylinder length="0.023" radius="0.01"/>
      </geometry>
    </collision>
    <!--   end simple shape approximation of f0 -->
    <!-- begin visual shape approximation of f0 -->
    <visual>
      <origin rpy="0 0 0" xyz="0 0 0.003"/>
      <geometry>
        <cylinder length="0.023" radius="0.015"/>
      </geometry>
      <material name="left_sandia_hand_skin_suntan">
        <color rgba="0.7 0.4 0.2 1.0"/>
      </material>
    </visual>
    <visual>
      <origin rpy="1.57079632679 0 0" xyz="0.011 0 0.003"/>
      <geometry>
        <cylinder length="0.023" radius="0.01"/>
      </geometry>
      <material name="left_sandia_hand_skin_suntan">
        <color rgba="0.7 0.4 0.2 1.0"/>
      </material>
    </visual>
    <!--   end visual shape approximation of f0 -->
    <!-- begin collision mesh of f0 ->
      <collision group="default">
        <origin xyz="0 0 0" rpy="0 0 0"/>
        <geometry>
          <mesh filename="package://sandia_hand_description/meshes/f0.stl"/>
        </geometry>
      </collision>
      <!-   end collision mesh of f0 -->
    <!-- begin visual mesh of f0 ->
      <visual>
        <origin xyz="0 0 0" rpy="0 0 0"/>
        <geometry>
          <mesh filename="package://sandia_hand_description/meshes/f0.stl"/>
        </geometry>
        <material name="${side}_sandia_hand_skin_suntan">
          <color rgba="0.7 0.4 0.2 1.0"/>
        </material>
      </visual>
      <!-   end visual mesh of f0 -->
  </link>
  <link name="left_f3_1">
    <origin rpy="0 0 0" xyz="0 0 0"/>
    <inertial>
      <mass value="0.033"/>
      <!-- F2 -->
      <origin xyz="0 0 0"/>
      <!-- solid cylinder -->
      <inertia ixx="0.000165" ixy="0" ixz="0" iyy="0.001316975" iyz="0" izz="0.001316975"/>
    </inertial>
    <!-- begin simple shape approximation of f1 -->
    <collision group="default">
      <origin rpy="0 1.57079632679 0" xyz="0.024 0 0"/>
      <geometry>
        <cylinder length="0.067" radius="0.01"/>
      </geometry>
    </collision>
    <!--   end simple shape approximation of f1 -->
    <!-- begin visual shape approximation of f1 -->
    <visual>
      <origin rpy="0 1.57079632679 0" xyz="0.024 0 0"/>
      <geometry>
        <cylinder length="0.067" radius="0.01"/>
      </geometry>
      <material name="left_sandia_hand_skin">
        <color rgba="0.835 0.655 0.345 1.0"/>
      </material>
    </visual>
    <!--   end visual shape approximation of f1 -->
    <!-- begin collision mesh of f1 ->
      <collision group="default">
        <origin xyz="0 0 0" rpy="0 0 0"/>
        <geometry>
          <mesh filename="package://sandia_hand_description/meshes/f1.stl"/>
        </geometry>
      </collision>
      <!-   end collision mesh of f1 -->
    <!-- begin visual mesh of f1 ->
      <visual>
        <origin xyz="0 0 0" rpy="0 0 0"/>
        <geometry>
          <mesh filename="package://sandia_hand_description/meshes/f1.stl"/>
        </geometry>
        <material name="${side}_sandia_hand_skin">
          <color rgba="0.835 0.655 0.345 1.0"/>
        </material>
      </visual>
      <!-   end visual mesh of f1 -->
  </link>
  <link name="left_f3_1_accel">
    <origin rpy="0 0 0" xyz="0 0 0"/>
    <inertial>
      <mass value="0.01"/>
      <origin xyz="0 0 0"/>
      <inertia ixx="0.0001" ixy="0" ixz="0" iyy="0.0001" iyz="0" izz="0.0001"/>
    </inertial>
  </link>
  <link name="left_f3_2">
    <origin rpy="0 0 0" xyz="0 0 0"/>
    <inertial>
      <mass value="0.033"/>
      <!-- F3 -->
      <origin xyz="0 0 0"/>
      <!-- solid cylinder -->
      <inertia ixx="0.00013365" ixy="0" ixz="0" iyy="0.0009603" iyz="0" izz="0.0009603"/>
    </inertial>
    <!-- begin simple shape approximation of f2 -->
    <collision group="default">
      <origin rpy="0 1.57079632679 0" xyz="0.024 0 0"/>
      <geometry>
        <cylinder length="0.057" radius="0.009"/>
      </geometry>
    </collision>
    <collision group="other">
      <origin rpy="0 0 0" xyz="0.052 0 0"/>
      <geometry>
        <sphere radius="0.009"/>
      </geometry>
    </collision>
    <!--   end simple shape approximation of f2 -->
    <!-- begin visual shape approximation of f2 -->
    <visual>
      <origin rpy="0 1.57079632679 0" xyz="0.024 0 0"/>
      <geometry>
        <cylinder length="0.057" radius="0.009"/>
      </geometry>
      <material name="left_sandia_hand_skin_suntan">
        <color rgba="0.8 0.6 0.3 1.0"/>
      </material>
    </visual>
    <visual>
      <origin rpy="0 0 0" xyz="0.052 0 0"/>
      <geometry>
        <sphere radius="0.009"/>
      </geometry>
      <material name="left_sandia_hand_skin_suntan">
        <color rgba="0.8 0.6 0.3 1.0"/>
      </material>
    </visual>
    <!-- begin collision mesh of f2    ->
      <collision group="default">
        <origin xyz="0 0 0" rpy="0 0 0"/>
        <geometry>
          <mesh filename="package://sandia_hand_description/meshes/f2.stl"/>
        </geometry>
      </collision>
      <!-   end collision mesh of f2 -->
    <!-- begin visual mesh of f2    ->
      <visual>
        <origin xyz="0 0 0" rpy="0 0 0"/>
        <geometry>
          <mesh filename="package://sandia_hand_description/meshes/f2.stl"/>
        </geometry>
        <material name="${side}_sandia_hand_skin_suntan">
          <color rgba="0.8 0.6 0.3 1.0"/>
        </material>
      </visual>
      <!-   end visual mesh of f2 -->
  </link>
  <link name="left_f3_2_accel">
    <origin rpy="0 0 0" xyz="0 0 0"/>
    <inertial>
      <mass value="0.01"/>
      <origin xyz="0 0 0"/>
      <inertia ixx="0.0001" ixy="0" ixz="0" iyy="0.0001" iyz="0" izz="0.0001"/>
    </inertial>
  </link>
  <joint name="left_f3_base" type="fixed">
    <parent link="left_palm"/>
    <child link="left_f3_base"/>
    <origin rpy="0 -1.57079632679 2.3562" xyz="0.03995 0.04383 0.014"/>
  </joint>
  <joint name="left_f3_j0" type="revolute">
    <axis xyz="0 0 -1"/>
    <parent link="left_f3_base"/>
    <child link="left_f3_0"/>
    <limit effort="1" lower="-1.57079632679" upper="1.57079632679" velocity="1"/>
    <safety_controller k_position="1000.0" k_velocity="1000.0" soft_lower_limit="-11.57079" soft_upper_limit="11.57079"/>
    <dynamics damping="0.01"/>
    <origin rpy="0 0 0" xyz="0 0 0"/>
  </joint>
  <joint name="left_f3_j1" type="revolute">
    <axis xyz="0 0 1"/>
    <parent link="left_f3_0"/>
    <child link="left_f3_1"/>
    <limit effort="1" lower="-1.57079632679" upper="1.57079632679" velocity="1"/>
    <safety_controller k_position="1000.0" k_velocity="1000.0" soft_lower_limit="-11.57079" soft_upper_limit="11.57079"/>
    <dynamics damping="0.01"/>
    <origin rpy="1.57079632679 0 0" xyz="0.028 0 0"/>
  </joint>
  <joint name="left_f3_j2" type="revolute">
    <axis xyz="0 0 1"/>
    <parent link="left_f3_1"/>
    <child link="left_f3_2"/>
    <origin rpy="0 0 0" xyz="0.05 0 0"/>
    <safety_controller k_position="1000.0" k_velocity="1000.0" soft_lower_limit="-11.57079" soft_upper_limit="11.57079"/>
    <dynamics damping="0.01"/>
    <limit effort="1" lower="-1.57079632679" upper="1.57079632679" velocity="1"/>
  </joint>
  <joint name="left_f3_fixed_accel" type="fixed">
    <parent link="left_f3_base"/>
    <child link="left_f3_fixed_accel"/>
    <origin rpy="0 0 0" xyz="-0.05 0 0"/>
  </joint>
  <joint name="left_f3_1_accel" type="fixed">
    <parent link="left_f3_1"/>
    <child link="left_f3_1_accel"/>
    <origin rpy="-1.57079632679 0 0" xyz="0.03 0 0"/>
  </joint>
  <joint name="left_f3_2_accel" type="fixed">
    <parent link="left_f3_2"/>
    <child link="left_f3_2_accel"/>
    <origin rpy="-1.57079632679 0 0" xyz="0.04 0 0"/>
  </joint>
  <gazebo reference="left_f3_base">
    <mu1>0.9</mu1>
    <mu2>0.9</mu2>
  </gazebo>
  <gazebo reference="left_f3_0">
    <mu1>0.9</mu1>
    <mu2>0.9</mu2>
  </gazebo>
  <gazebo reference="left_f3_1">
    <mu1>0.9</mu1>
    <mu2>0.9</mu2>
  </gazebo>
  <gazebo reference="left_f3_2">
    <mu1>0.9</mu1>
    <mu2>0.9</mu2>
  </gazebo>
  <transmission name="left_f3_j0" type="pr2_mechanism_model/SimpleTransmission">
    <joint name="left_f3_j0"/>
    <actuator name="left_f3_j0_motor"/>
    <mechanicalReduction>1</mechanicalReduction>
  </transmission>
  <transmission name="left_f3_j1" type="pr2_mechanism_model/SimpleTransmission">
    <joint name="left_f3_j1"/>
    <actuator name="left_f3_j1_motor"/>
    <mechanicalReduction>1</mechanicalReduction>
  </transmission>
  <transmission name="left_f3_j2" type="pr2_mechanism_model/SimpleTransmission">
    <joint name="left_f3_j2"/>
    <actuator name="left_f3_j2_motor"/>
    <mechanicalReduction>1</mechanicalReduction>
  </transmission>
  <gazebo>
    <!-- robot model offset -->
    <pose>0 0 0.93 0 0 0</pose>
  </gazebo>
  <gazebo>
    <plugin filename="libAtlasPlugin.so" name="atlas_plugin"/>
    <plugin filename="libgazebo_ros_joint_trajectory.so" name="joint_trajectory_plugin">
      <topicName>joint_trajectory</topicName>
      <updateRate>1000.0</updateRate>
    </plugin>
    <!--
    <plugin filename="libgazebo_ros_controller_manager.so" name="gazebo_ros_controller_manager">
      <alwaysOn>true</alwaysOn>
      <updateRate>1000.0</updateRate>
    </plugin>
    -->
  </gazebo>
  <link name="imu_link">
    <inertial>
      <mass value="0.1"/>
      <origin xyz="0 0 0"/>
      <inertia ixx="0.001" ixy="0" ixz="0" iyy="0.001" iyz="0" izz="0.001"/>
    </inertial>
    <collision group="default">
      <origin rpy="0 0 0" xyz="0 0 0"/>
      <geometry>
        <box size="0.01 0.01 0.01"/>
      </geometry>
    </collision>
    <visual>
      <origin rpy="0 0 0" xyz="0 0 0"/>
      <geometry>
        <box size="0.01 0.01 0.01"/>
      </geometry>
    </visual>
  </link>
  <joint name="imu_joint" type="fixed">
    <parent link="pelvis"/>
    <child link="imu_link"/>
    <origin rpy="0 0 0" xyz="0.05991527603 0 -0.01415"/>
  </joint>
  <gazebo reference="imu_link">
    <!-- this is expected to be reparented to pelvis with appropriate offset
         when imu_link is reduced by fixed joint reduction -->
    <!-- todo: this is working with gazebo 1.4, need to write a unit test -->
    <sensor name="imu_sensor" type="imu">
      <always_on>1</always_on>
      <update_rate>1000.0</update_rate>
    </sensor>
  </gazebo>
  <gazebo reference="l_arm_mwx">
    <provideFeedback>1</provideFeedback>
  </gazebo>
  <gazebo reference="r_arm_mwx">
    <provideFeedback>1</provideFeedback>
  </gazebo>
  <gazebo reference="l_leg_lax">
    <provideFeedback>1</provideFeedback>
  </gazebo>
  <gazebo reference="r_leg_lax">
    <provideFeedback>1</provideFeedback>
  </gazebo>
  <gazebo reference="r_foot">
    <mu1>10.0</mu1>
    <mu2>10.0</mu2>
    <fdir1>1 0 0</fdir1>
    <maxVel>0.0</maxVel>
    <minDepth>0.001</minDepth>
  </gazebo>
  <gazebo reference="l_foot">
    <mu1>10.0</mu1>
    <mu2>10.0</mu2>
    <fdir1>1 0 0</fdir1>
    <maxVel>0.0</maxVel>
    <minDepth>0.001</minDepth>
  </gazebo>
  <gazebo>
    <plugin filename="libgazebo_ros_p3d.so" name="gazebo_ros_p3d">
      <bodyName>pelvis</bodyName>
      <topicName>/ground_truth_odom</topicName>
      <alwaysOn>true</alwaysOn>
      <updateRate>100.0</updateRate>
    </plugin>
  </gazebo>
  <transmission name="head_hokuyo_trans" type="pr2_mechanism_model/SimpleTransmission">
    <joint name="hokuyo_joint"/>
    <actuator name="hokuyo_motor"/>
    <mechanicalReduction>1</mechanicalReduction>
  </transmission>
  <transmission name="back_lbz_trans" type="pr2_mechanism_model/SimpleTransmission">
    <joint name="back_lbz"/>
    <actuator name="back_lbz_motor"/>
    <mechanicalReduction>1</mechanicalReduction>
  </transmission>
  <transmission name="back_mby_trans" type="pr2_mechanism_model/SimpleTransmission">
    <actuator name="back_mby_motor"/>
    <joint name="back_mby"/>
    <mechanicalReduction>1</mechanicalReduction>
  </transmission>
  <transmission name="back_ubx_trans" type="pr2_mechanism_model/SimpleTransmission">
    <actuator name="back_ubx_motor"/>
    <joint name="back_ubx"/>
    <mechanicalReduction>1</mechanicalReduction>
  </transmission>
  <transmission name="l_arm_elx_trans" type="pr2_mechanism_model/SimpleTransmission">
    <actuator name="l_arm_elx_motor"/>
    <joint name="l_arm_elx"/>
    <mechanicalReduction>1</mechanicalReduction>
  </transmission>
  <transmission name="l_arm_ely_trans" type="pr2_mechanism_model/SimpleTransmission">
    <actuator name="l_arm_ely_motor"/>
    <joint name="l_arm_ely"/>
    <mechanicalReduction>1</mechanicalReduction>
  </transmission>
  <transmission name="l_arm_mwx_trans" type="pr2_mechanism_model/SimpleTransmission">
    <actuator name="l_arm_mwx_motor"/>
    <joint name="l_arm_mwx"/>
    <mechanicalReduction>1</mechanicalReduction>
  </transmission>
  <transmission name="l_arm_shx_trans" type="pr2_mechanism_model/SimpleTransmission">
    <actuator name="l_arm_shx_motor"/>
    <joint name="l_arm_shx"/>
    <mechanicalReduction>1</mechanicalReduction>
  </transmission>
  <transmission name="l_arm_usy_trans" type="pr2_mechanism_model/SimpleTransmission">
    <actuator name="l_arm_usy_motor"/>
    <joint name="l_arm_usy"/>
    <mechanicalReduction>1</mechanicalReduction>
  </transmission>
  <transmission name="l_arm_uwy_trans" type="pr2_mechanism_model/SimpleTransmission">
    <actuator name="l_arm_uwy_motor"/>
    <joint name="l_arm_uwy"/>
    <mechanicalReduction>1</mechanicalReduction>
  </transmission>
  <transmission name="l_leg_kny_trans" type="pr2_mechanism_model/SimpleTransmission">
    <actuator name="l_leg_kny_motor"/>
    <joint name="l_leg_kny"/>
    <mechanicalReduction>1</mechanicalReduction>
  </transmission>
  <transmission name="l_leg_lax_trans" type="pr2_mechanism_model/SimpleTransmission">
    <actuator name="l_leg_lax_motor"/>
    <joint name="l_leg_lax"/>
    <mechanicalReduction>1</mechanicalReduction>
  </transmission>
  <transmission name="l_leg_lhy_trans" type="pr2_mechanism_model/SimpleTransmission">
    <actuator name="l_leg_lhy_motor"/>
    <joint name="l_leg_lhy"/>
    <mechanicalReduction>1</mechanicalReduction>
  </transmission>
  <transmission name="l_leg_mhx_trans" type="pr2_mechanism_model/SimpleTransmission">
    <actuator name="l_leg_mhx_motor"/>
    <joint name="l_leg_mhx"/>
    <mechanicalReduction>1</mechanicalReduction>
  </transmission>
  <transmission name="l_leg_uay_trans" type="pr2_mechanism_model/SimpleTransmission">
    <actuator name="l_leg_uay_motor"/>
    <joint name="l_leg_uay"/>
    <mechanicalReduction>1</mechanicalReduction>
  </transmission>
  <transmission name="l_leg_uhz_trans" type="pr2_mechanism_model/SimpleTransmission">
    <actuator name="l_leg_uhz_motor"/>
    <joint name="l_leg_uhz"/>
    <mechanicalReduction>1</mechanicalReduction>
  </transmission>
  <transmission name="neck_ay_trans" type="pr2_mechanism_model/SimpleTransmission">
    <actuator name="neck_ay_motor"/>
    <joint name="neck_ay"/>
    <mechanicalReduction>1</mechanicalReduction>
  </transmission>
  <transmission name="r_arm_elx_trans" type="pr2_mechanism_model/SimpleTransmission">
    <actuator name="r_arm_elx_motor"/>
    <joint name="r_arm_elx"/>
    <mechanicalReduction>1</mechanicalReduction>
  </transmission>
  <transmission name="r_arm_ely_trans" type="pr2_mechanism_model/SimpleTransmission">
    <actuator name="r_arm_ely_motor"/>
    <joint name="r_arm_ely"/>
    <mechanicalReduction>1</mechanicalReduction>
  </transmission>
  <transmission name="r_arm_mwx_trans" type="pr2_mechanism_model/SimpleTransmission">
    <actuator name="r_arm_mwx_motor"/>
    <joint name="r_arm_mwx"/>
    <mechanicalReduction>1</mechanicalReduction>
  </transmission>
  <transmission name="r_arm_shx_trans" type="pr2_mechanism_model/SimpleTransmission">
    <actuator name="r_arm_shx_motor"/>
    <joint name="r_arm_shx"/>
    <mechanicalReduction>1</mechanicalReduction>
  </transmission>
  <transmission name="r_arm_usy_trans" type="pr2_mechanism_model/SimpleTransmission">
    <actuator name="r_arm_usy_motor"/>
    <joint name="r_arm_usy"/>
    <mechanicalReduction>1</mechanicalReduction>
  </transmission>
  <transmission name="r_arm_uwy_trans" type="pr2_mechanism_model/SimpleTransmission">
    <actuator name="r_arm_uwy_motor"/>
    <joint name="r_arm_uwy"/>
    <mechanicalReduction>1</mechanicalReduction>
  </transmission>
  <transmission name="r_leg_kny_trans" type="pr2_mechanism_model/SimpleTransmission">
    <actuator name="r_leg_kny_motor"/>
    <joint name="r_leg_kny"/>
    <mechanicalReduction>1</mechanicalReduction>
  </transmission>
  <transmission name="r_leg_lax_trans" type="pr2_mechanism_model/SimpleTransmission">
    <actuator name="r_leg_lax_motor"/>
    <joint name="r_leg_lax"/>
    <mechanicalReduction>1</mechanicalReduction>
  </transmission>
  <transmission name="r_leg_lhy_trans" type="pr2_mechanism_model/SimpleTransmission">
    <actuator name="r_leg_lhy_motor"/>
    <joint name="r_leg_lhy"/>
    <mechanicalReduction>1</mechanicalReduction>
  </transmission>
  <transmission name="r_leg_mhx_trans" type="pr2_mechanism_model/SimpleTransmission">
    <actuator name="r_leg_mhx_motor"/>
    <joint name="r_leg_mhx"/>
    <mechanicalReduction>1</mechanicalReduction>
  </transmission>
  <transmission name="r_leg_uay_trans" type="pr2_mechanism_model/SimpleTransmission">
    <actuator name="r_leg_uay_motor"/>
    <joint name="r_leg_uay"/>
    <mechanicalReduction>1</mechanicalReduction>
  </transmission>
  <transmission name="r_leg_uhz_trans" type="pr2_mechanism_model/SimpleTransmission">
    <actuator name="r_leg_uhz_motor"/>
    <joint name="r_leg_uhz"/>
    <mechanicalReduction>1</mechanicalReduction>
  </transmission>
  <link name="head">
    <inertial>
      <origin rpy="0 0 0" xyz="-0.075493 3.3383E-05 0.02774"/>
      <mass value="1.4199"/>
      <inertia ixx="0.0039688" ixy="-1.5797E-06" ixz="-0.00089293" iyy="0.0041178" iyz="-6.8415E-07" izz="0.0035243"/>
    </inertial>
    <visual>
      <origin rpy="0 0 1.570795" xyz="-0.0446 0 0.0880"/>
      <geometry>
        <mesh filename="package://multisense_sl_description/meshes/base_link.STL"/>
      </geometry>
      <material name="">
        <color rgba="0.9098 0.44314 0.031373 1"/>
      </material>
    </visual>
    <collision group="default">
      <origin rpy="0 0 0" xyz="-0.0503 0 -0.00195"/>
      <geometry>
        <box size="0.1311 0.12 0.0591"/>
      </geometry>
    </collision>
    <collision group="other">
      <origin rpy="0 0 0" xyz="-0.093 0 0.0868"/>
      <geometry>
        <box size="0.0468 0.12 0.1184"/>
      </geometry>
    </collision>
  </link>
  <link name="hokuyo_link">
    <inertial>
      <origin rpy="0 0 0" xyz="0.012428 0.0004084 -0.0041835"/>
      <mass value="0.057664"/>
      <inertia ixx="3.7174E-05" ixy="4.9927E-08" ixz="1.1015E-05" iyy="4.2412E-05" iyz="-9.8165E-09" izz="4.167E-05"/>
    </inertial>
    <visual>
      <origin rpy="1.5707963267949 0 1.5707963267949" xyz="0 0 0"/>
      <geometry>
        <mesh filename="package://multisense_sl_description/meshes/hokuyo_link.STL"/>
      </geometry>
      <material name="">
        <color rgba="0.72941 0.35686 0.023529 1"/>
      </material>
    </visual>
    <collision group="default">
      <origin rpy="0 0 0" xyz="0.01885 0 -0.02119"/>
      <geometry>
        <box size="0.08 0.06 0.04238"/>
      </geometry>
    </collision>
    <collision group="other">
      <origin rpy="0 0 0" xyz="0.03 0 0.0235"/>
      <geometry>
        <cylinder length="0.047" radius="0.024425"/>
      </geometry>
    </collision>
  </link>
  <joint name="hokuyo_joint" type="continuous">
    <origin rpy="0 0 0" xyz="-0.0446 0 0.0880"/>
    <parent link="head"/>
    <child link="hokuyo_link"/>
    <axis xyz="1 0 0"/>
    <dynamics damping="0.01" friction="0"/>
  </joint>
  <joint name="head_hokuyo_joint" type="fixed">
    <axis xyz="0 1 0"/>
    <origin rpy="0 0 0" xyz="0.03 0 0.015"/>
    <parent link="hokuyo_link"/>
    <child link="head_hokuyo_frame"/>
  </joint>
  <link name="head_hokuyo_frame">
    <inertial>
      <mass value="0.01"/>
      <origin rpy="0 0 0" xyz="0 0 0"/>
      <inertia ixx="0.00001" ixy="0" ixz="0" iyy="0.00001" iyz="0" izz="0.00001"/>
    </inertial>
  </link>
  <gazebo reference="head_hokuyo_frame">
    <sensor name="head_hokuyo_sensor" type="ray">
      <pose>0 0 0 0 0 0</pose>
      <visualize>false</visualize>
      <update_rate>40</update_rate>
      <ray>
        <scan>
          <horizontal>
            <samples>720</samples>
            <resolution>1</resolution>
            <min_angle>-1.570796</min_angle>
            <max_angle>1.570796</max_angle>
          </horizontal>
        </scan>
        <range>
          <min>0.10</min>
          <max>30.0</max>
          <resolution>0.01</resolution>
        </range>
      </ray>
      <plugin filename="libgazebo_ros_laser.so" name="gazebo_ros_head_hokuyo_controller">
        <gaussianNoise>0.005</gaussianNoise>
        <alwaysOn>true</alwaysOn>
        <updateRate>40</updateRate>
        <topicName>/multisense_sl/laser/scan</topicName>
        <frameName>head_hokuyo_frame</frameName>
      </plugin>
    </sensor>
  </gazebo>
  <joint name="left_camera_frame_joint" type="fixed">
    <!-- optical frame collocated with tilting DOF -->
    <origin xyz="0.0 0.035 -0.002"/>
    <parent link="head"/>
    <child link="left_camera_frame"/>
  </joint>
  <link name="left_camera_frame">
    <inertial>
      <mass value="0.1"/>
      <origin xyz="0 0 0"/>
      <inertia ixx="0.001" ixy="0.0" ixz="0.0" iyy="0.001" iyz="0.0" izz="0.001"/>
    </inertial>
  </link>
  <joint name="left_camera_optical_frame_joint" type="fixed">
    <origin rpy="-1.5708 0.0 -1.5708" xyz="0 0 0"/>
    <parent link="left_camera_frame"/>
    <child link="left_camera_optical_frame"/>
  </joint>
  <link name="left_camera_optical_frame"/>
  <gazebo reference="left_camera_frame">
    <sensor name="stereo_camera" type="multicamera">
      <!-- update rate based on spec sheet for 2mp 15fps -->
      <update_rate>15.0</update_rate>
      <camera name="left">
        <!-- hfov based on spec sheet, 80 degrees X 45 degrees -->
        <!-- for resolution of 2048 x 1088, we have non-unity aspect ratio -->
        <!-- robot also capable of 1024 x 544 resolution -->
        <!-- but gazebo will violate the vertical fov for now to keep aspect ratio of 1 -->
        <horizontal_fov>1.3962634</horizontal_fov>
        <image>
          <width>1024</width>
          <height>544</height>
          <format>R8G8B8</format>
        </image>
        <clip>
          <near>0.02</near>
          <far>100</far>
        </clip>
      </camera>
      <camera name="right">
        <pose>0 -0.07 0 0 0 0</pose>
        <!-- hfov based on spec sheet, 80 degrees X 45 degrees -->
        <!-- for resolution of 2048 x 1088, we have non-unity aspect ratio -->
        <!-- robot also capable of 1024 x 544 resolution -->
        <!-- but gazebo will violate the vertical fov for now to keep aspect ratio of 1 -->
        <horizontal_fov>1.3962634</horizontal_fov>
        <image>
          <width>1024</width>
          <height>544</height>
          <format>R8G8B8</format>
        </image>
        <clip>
          <near>0.02</near>
          <far>100</far>
        </clip>
      </camera>
      <plugin filename="libgazebo_ros_multicamera.so" name="stereo_camera_controller">
        <alwaysOn>true</alwaysOn>
        <updateRate>15.0</updateRate>
        <cameraName>multisense_sl/camera</cameraName>
        <imageTopicName>image_raw</imageTopicName>
        <cameraInfoTopicName>camera_info</cameraInfoTopicName>
        <frameName>left_camera_optical_frame</frameName>
        <!--<rightFrameName>right_camera_optical_frame</rightFrameName>-->
        <hackBaseline>0.07</hackBaseline>
        <distortionK1>0.0</distortionK1>
        <distortionK2>0.0</distortionK2>
        <distortionK3>0.0</distortionK3>
        <distortionT1>0.0</distortionT1>
        <distortionT2>0.0</distortionT2>
      </plugin>
    </sensor>
  </gazebo>
  <joint name="right_camera_frame_joint" type="fixed">
    <origin xyz="0.0 -0.035 -0.002"/>
    <parent link="head"/>
    <child link="right_camera_frame"/>
  </joint>
  <link name="right_camera_frame">
    <inertial>
      <mass value="0.1"/>
      <origin xyz="0 0 0"/>
      <inertia ixx="0.001" ixy="0.0" ixz="0.0" iyy="0.001" iyz="0.0" izz="0.001"/>
    </inertial>
  </link>
  <joint name="right_camera_optical_frame_joint" type="fixed">
    <origin rpy="-1.5708 0.0 -1.5708" xyz="0 0 0"/>
    <parent link="right_camera_frame"/>
    <child link="right_camera_optical_frame"/>
  </joint>
  <link name="right_camera_optical_frame"/>
  <joint name="center_top_led_frame_joint" type="fixed">
    <origin xyz="0.01125 0.0 0.0105"/>
    <parent link="head"/>
    <child link="center_top_led_frame"/>
  </joint>
  <link name="center_top_led_frame">
    <inertial>
      <mass value="0.1"/>
      <origin xyz="0 0 0"/>
      <inertia ixx="0.001" ixy="0.0" ixz="0.0" iyy="0.001" iyz="0.0" izz="0.001"/>
    </inertial>
  </link>
  <joint name="center_bottom_led_frame_joint" type="fixed">
    <origin xyz="0.01125 0.0 -0.0155"/>
    <parent link="head"/>
    <child link="center_bottom_led_frame"/>
  </joint>
  <link name="center_bottom_led_frame">
    <inertial>
      <mass value="0.1"/>
      <origin xyz="0 0 0"/>
      <inertia ixx="0.001" ixy="0.0" ixz="0.0" iyy="0.001" iyz="0.0" izz="0.001"/>
    </inertial>
  </link>
  <joint name="left_led_frame_joint" type="fixed">
    <origin rpy="0 -0.15 0.53" xyz="-0.01443 0.07452 0.050346"/>
    <parent link="head"/>
    <child link="left_led_frame"/>
  </joint>
  <link name="left_led_frame">
    <inertial>
      <mass value="0.1"/>
      <origin xyz="0 0 0"/>
      <inertia ixx="0.001" ixy="0.0" ixz="0.0" iyy="0.001" iyz="0.0" izz="0.001"/>
    </inertial>
  </link>
  <joint name="right_led_frame_joint" type="fixed">
    <origin rpy="0 -0.15 -0.53" xyz="-0.01443 -0.07452 0.050346"/>
    <parent link="head"/>
    <child link="right_led_frame"/>
  </joint>
  <link name="right_led_frame">
    <inertial>
      <mass value="0.1"/>
      <origin xyz="0 0 0"/>
      <inertia ixx="0.001" ixy="0.0" ixz="0.0" iyy="0.001" iyz="0.0" izz="0.001"/>
    </inertial>
  </link>
  <gazebo reference="r_foot">
    <!-- contact sensor -->
    <sensor name="r_foot_contact_sensor" type="contact">
      <update_rate>1000.0</update_rate>
      <always_on>1</always_on>
      <contact>
        <collision>r_foot_collision</collision>
        <topic>/r_foot_contact</topic>
      </contact>
    </sensor>
  </gazebo>
  <gazebo reference="l_foot">
    <!-- contact sensor -->
    <sensor name="l_foot_contact_sensor" type="contact">
      <update_rate>1000.0</update_rate>
      <always_on>1</always_on>
      <contact>
        <collision>l_foot_collision</collision>
        <topic>/l_foot_contact</topic>
      </contact>
    </sensor>
  </gazebo>
  <gazebo>
    <plugin filename="libMultiSenseSLPlugin.so" name="multisense_plugin"/>
  </gazebo>
  <gazebo>
    <!-- include plugin for snadia hands -->
    <plugin filename="libSandiaHandPlugin.so" name="sandia_hand_plugin"/>
  </gazebo>
</robot>
